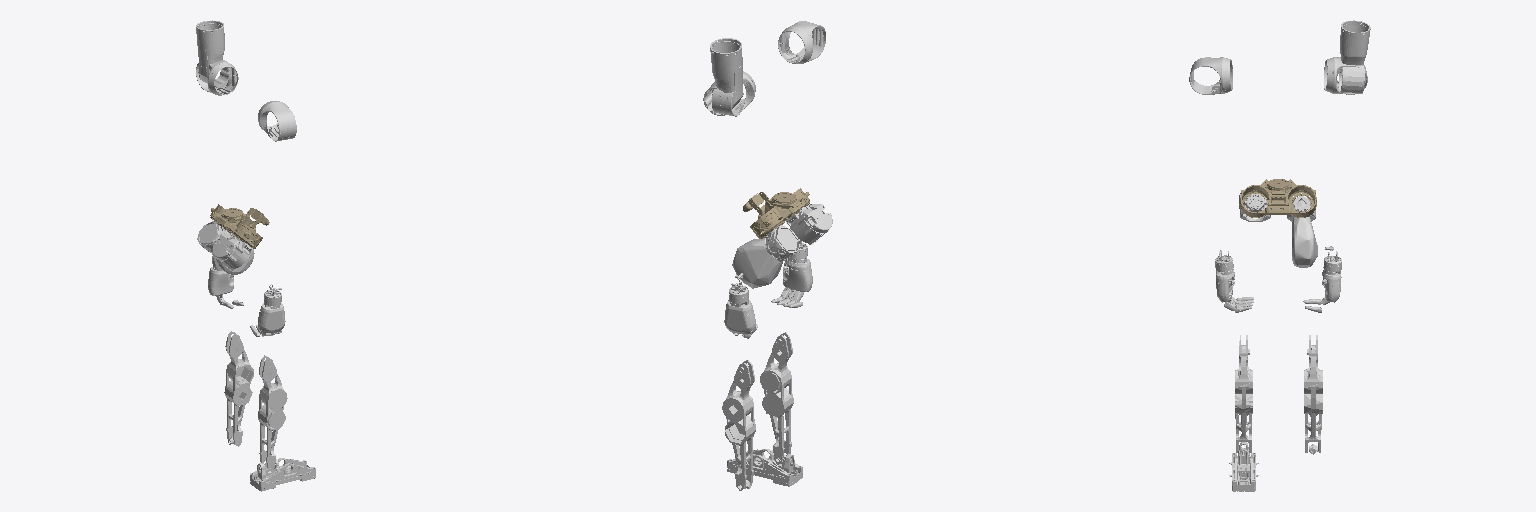
--- What the picture shows (computed from the rendered views, not written in the file) ---
Views: 3 orthographic renders of the robot side by side, from view 1: azimuth 30°, elevation 25°; view 2: azimuth 150°, elevation 25°; view 3: azimuth 270°, elevation 25°.
Robot: M92C — 60 links, 59 joints (52 revolute, 7 fixed); root link base_footprint; default pose: all joints at 0 but 20 set to mid-range because 0 is outside their limits (l_thumb_cmc_y_joint = 2.43, l_thumb_cmc_p_joint = 0.637, l_thumb_mcp_joint = -0.3912, l_thumb_ip_joint = -0.2072, l_index_mcp_joint = -0.9652, l_index_pip_joint = -0.6485, +14 more).
Links seen in each view (by area): view 1: r_leg4_knee_p_link, l_leg4_knee_p_link, l_arm3_shoulder_y_link, r_leg6_ankle_r_link, base_link, r_arm1_shoulder_p_link, r_arm7_wrist_p_link, r_leg1_hip_y_link, l_arm1_shoulder_p_link, l_arm7_wrist_p_link, l_leg1_hip_y_link; view 2: r_leg4_knee_p_link, l_leg4_knee_p_link, l_arm3_shoulder_y_link, base_link, l_leg2_hip_r_link, r_leg6_ankle_r_link, r_arm1_shoulder_p_link, l_arm7_wrist_p_link, r_leg1_hip_y_link, r_arm7_wrist_p_link, l_arm1_shoulder_p_link, l_leg1_hip_y_link; view 3: base_link, l_arm3_shoulder_y_link, l_leg4_knee_p_link, r_leg4_knee_p_link, l_leg2_hip_r_link, r_arm1_shoulder_p_link, r_leg6_ankle_r_link, r_arm7_wrist_p_link, l_arm7_wrist_p_link, l_arm1_shoulder_p_link.
Link boxes in pixels (left/top/right/bottom): r_leg4_knee_p_link: left=258, top=355, right=287, bottom=470; l_leg4_knee_p_link: left=224, top=331, right=253, bottom=446; l_arm3_shoulder_y_link: left=196, top=20, right=228, bottom=88; r_leg6_ankle_r_link: left=250, top=458, right=315, bottom=491; base_link: left=210, top=204, right=269, bottom=248; r_arm1_shoulder_p_link: left=258, top=101, right=296, bottom=141; r_arm7_wrist_p_link: left=258, top=284, right=285, bottom=332; r_leg1_hip_y_link: left=212, top=234, right=252, bottom=270; l_arm1_shoulder_p_link: left=196, top=60, right=238, bottom=95; l_arm7_wrist_p_link: left=208, top=256, right=233, bottom=295; l_leg1_hip_y_link: left=197, top=221, right=227, bottom=252; r_leg4_knee_p_link: left=760, top=332, right=793, bottom=463; l_leg4_knee_p_link: left=722, top=360, right=755, bottom=490; l_arm3_shoulder_y_link: left=703, top=38, right=743, bottom=115; base_link: left=743, top=188, right=809, bottom=238; l_leg2_hip_r_link: left=732, top=238, right=782, bottom=288; r_leg6_ankle_r_link: left=727, top=449, right=802, bottom=486; r_arm1_shoulder_p_link: left=778, top=21, right=825, bottom=63; l_arm7_wrist_p_link: left=724, top=279, right=755, bottom=334; r_leg1_hip_y_link: left=786, top=204, right=832, bottom=244; r_arm7_wrist_p_link: left=783, top=239, right=812, bottom=291; l_arm1_shoulder_p_link: left=712, top=71, right=755, bottom=116; l_leg1_hip_y_link: left=765, top=225, right=799, bottom=261; base_link: left=1240, top=179, right=1316, bottom=217; l_arm3_shoulder_y_link: left=1339, top=20, right=1370, bottom=93; l_leg4_knee_p_link: left=1304, top=335, right=1322, bottom=452; r_leg4_knee_p_link: left=1235, top=335, right=1252, bottom=452; l_leg2_hip_r_link: left=1292, top=217, right=1317, bottom=267; r_arm1_shoulder_p_link: left=1189, top=57, right=1232, bottom=94; r_leg6_ankle_r_link: left=1229, top=442, right=1258, bottom=491; r_arm7_wrist_p_link: left=1215, top=250, right=1234, bottom=302; l_arm7_wrist_p_link: left=1322, top=251, right=1341, bottom=302; l_arm1_shoulder_p_link: left=1324, top=57, right=1367, bottom=94.
Bounding box of the posed robot: 0.3569 × 0.5926 × 1.59 m (x, y, z).
Meshes: 53 distinct files referenced, 26 mesh visuals loaded (26 binary STL); not drawn: 27 (reference not matched to a file when rendering).

The robot description file, URDF, robot "M92C":
<?xml version="1.0" ?>
<!-- =================================================================================== -->
<!-- |    This document was autogenerated by xacro from [local-path]/ws_humble/src/human_description/robots/M92C/M92C.urdf.xacro | -->
<!-- |    EDITING THIS FILE BY HAND IS NOT RECOMMENDED                                 | -->
<!-- =================================================================================== -->
<robot name="M92C">
  <link name="base_footprint">
            </link>
  <joint name="base_footprint_fixed_joint" type="fixed">
    <parent link="base_footprint"/>
    <child link="base_link"/>
    <origin rpy="0 0 0" xyz="0 0 0.95"/>
  </joint>
  <link name="base_link">
    <visual name="base_link_vis">
      <geometry>
        <mesh filename="package://human_description/meshes/M92C/visual/base_link.stl" scale="1e-3 1e-3 1e-3"/>
      </geometry>
      <material name="steel">
        <color rgba="0.7 0.65 0.55 1"/>
      </material>
    </visual>
    <collision name="base_link_col">
      <geometry>
        <mesh filename="package://human_description/meshes/M92C/collision/base_link.stl" scale="1e-3 1e-3 1e-3"/>
      </geometry>
    </collision>
    <inertial>
      <origin rpy="0.0 0.0 0.0" xyz="-0.04674316973808486 4.243775826414283e-05 -0.04593932252884735"/>
      <mass value="4.582832371613902"/>
      <inertia ixx="0.026938242317904135" ixy="0.00016805004318506462" ixz="0.00031440502263900636" iyy="0.0069147873987483125" iyz="-0.00017810480444606385" izz="0.029031175439499908"/>
    </inertial>
  </link>
  <gazebo reference="base_link">
    <mu1 value="0.85"/>
    <mu2 value="0.85"/>
    <maxContacts>10</maxContacts>
    <minDepth>0.0001</minDepth>
    <maxVel>0.01</maxVel>
    <selfCollide value="True"/>
  </gazebo>
  <link name="l_leg1_hip_y_link">
    <visual name="l_leg1_hip_y_link_vis">
      <geometry>
        <mesh filename="package://human_description/meshes/M92C/visual/l_leg1_hip_y_link.stl" scale="1e-3 1e-3 1e-3"/>
      </geometry>
      <material name="metal">
        <color rgba="0.85 0.85 0.85 1"/>
      </material>
    </visual>
    <collision name="l_leg1_hip_y_link_col">
      <geometry>
        <mesh filename="package://human_description/meshes/M92C/collision/l_leg1_hip_y_link.stl" scale="1e-3 1e-3 1e-3"/>
      </geometry>
    </collision>
    <inertial>
      <origin rpy="0.0 0.0 0.0" xyz="0.0008850229572728041 5.843723944565227e-06 0.002410102237999933"/>
      <mass value="1.6682261293788896"/>
      <inertia ixx="0.0016489016346544062" ixy="1.1338909680756251e-06" ixz="-4.594603902098548e-05" iyy="0.0015528054330462516" iyz="2.3316569553201646e-07" izz="0.0013879925130855925"/>
    </inertial>
  </link>
  <gazebo reference="l_leg1_hip_y_link">
    <mu1 value="0.85"/>
    <mu2 value="0.85"/>
    <maxContacts>10</maxContacts>
    <minDepth>0.0001</minDepth>
    <maxVel>0.01</maxVel>
    <selfCollide value="True"/>
  </gazebo>
  <joint name="l_leg1_hip_y_joint" type="revolute">
    <parent link="base_link"/>
    <child link="l_leg1_hip_y_link"/>
    <origin rpy="0.0 0.7854 0.0" xyz="-0.108293 0.075 -0.108293"/>
    <axis xyz="0 0 1"/>
    <limit effort="200.0" lower="-0.7853981633974483" upper="1.5707963267948966" velocity="22.19"/>
    <safety_controller k_position="121.0" k_velocity="540.0" soft_lower_limit="-0.7330382858376184" soft_upper_limit="1.5184364492350666"/>
    <dynamics damping="0.0" friction="0.0"/>
  </joint>
  <gazebo reference="l_leg1_hip_y_joint">
    <!-- Needed for ODE to output external wrenches on joints -->
    <provideFeedback>true</provideFeedback>
    <preserveFixedJoint>true</preserveFixedJoint>
    <disableFixedJointLumping>true</disableFixedJointLumping>
  </gazebo>
  <link name="l_leg2_hip_r_link">
    <visual name="l_leg2_hip_r_link_vis">
      <geometry>
        <mesh filename="package://human_description/meshes/M92C/visual/l_leg2_hip_r_link.stl" scale="1e-3 1e-3 1e-3"/>
      </geometry>
      <material name="metal">
        <color rgba="0.85 0.85 0.85 1"/>
      </material>
    </visual>
    <collision name="l_leg2_hip_r_link_col">
      <geometry>
        <mesh filename="package://human_description/meshes/M92C/collision/l_leg2_hip_r_link.stl" scale="1e-3 1e-3 1e-3"/>
      </geometry>
    </collision>
    <inertial>
      <origin rpy="0.0 0.0 0.0" xyz="0.14900213418763666 0.0021476222290698816 8.845763064364575e-05"/>
      <mass value="4.007992430034036"/>
      <inertia ixx="0.011693994358873725" ixy="-9.274739833332958e-06" ixz="-8.624794970012456e-05" iyy="0.02343703854529649" iyz="1.1322262112806104e-05" izz="0.013482601595282608"/>
    </inertial>
  </link>
  <gazebo reference="l_leg2_hip_r_link">
    <mu1 value="0.85"/>
    <mu2 value="0.85"/>
    <maxContacts>10</maxContacts>
    <minDepth>0.0001</minDepth>
    <maxVel>0.01</maxVel>
    <selfCollide value="True"/>
  </gazebo>
  <joint name="l_leg2_hip_r_joint" type="revolute">
    <parent link="l_leg1_hip_y_link"/>
    <child link="l_leg2_hip_r_link"/>
    <origin rpy="0.0 0.0 0.0" xyz="0.0 0.0 0.0"/>
    <axis xyz="1 0 0"/>
    <limit effort="100.0" lower="-0.7853981633974483" upper="0.7853981633974483" velocity="20.22"/>
    <safety_controller k_position="121.0" k_velocity="540.0" soft_lower_limit="-0.7330382858376184" soft_upper_limit="0.7330382858376184"/>
    <dynamics damping="0.0" friction="0.0"/>
  </joint>
  <gazebo reference="l_leg2_hip_r_joint">
    <!-- Needed for ODE to output external wrenches on joints -->
    <provideFeedback>true</provideFeedback>
    <preserveFixedJoint>true</preserveFixedJoint>
    <disableFixedJointLumping>true</disableFixedJointLumping>
  </gazebo>
  <link name="l_leg3_hip_p_link">
    <visual name="l_leg3_hip_p_link_vis">
      <geometry>
        <mesh filename="package://human_description/meshes/M92C/visual/l_leg3_hip_p_link.stl" scale="1e-3 1e-3 1e-3"/>
      </geometry>
      <material name="metal">
        <color rgba="0.85 0.85 0.85 1"/>
      </material>
    </visual>
    <collision name="l_leg3_hip_p_link_col">
      <geometry>
        <mesh filename="package://human_description/meshes/M92C/collision/l_leg3_hip_p_link.stl" scale="1e-3 1e-3 1e-3"/>
      </geometry>
    </collision>
    <inertial>
      <origin rpy="0.0 0.0 0.0" xyz="0.001777498283024403 0.06609405204667318 -0.06548805431118004"/>
      <mass value="6.861170839249381"/>
      <inertia ixx="0.08209203289624244" ixy="4.8951279013623674e-05" ixz="0.003804575952713313" iyy="0.09174731120828715" iyz="-0.005732136409648308" izz="0.0210784970572199"/>
    </inertial>
  </link>
  <gazebo reference="l_leg3_hip_p_link">
    <mu1 value="0.85"/>
    <mu2 value="0.85"/>
    <maxContacts>10</maxContacts>
    <minDepth>0.0001</minDepth>
    <maxVel>0.01</maxVel>
    <selfCollide value="True"/>
  </gazebo>
  <joint name="l_leg3_hip_p_joint" type="revolute">
    <parent link="l_leg2_hip_r_link"/>
    <child link="l_leg3_hip_p_link"/>
    <origin rpy="0.0 -0.7854 0.0" xyz="0.1575 0.0 0.0"/>
    <axis xyz="0 1 0"/>
    <limit effort="350.0" lower="-2.321287905152458" upper="1.361356816555577" velocity="27.27"/>
    <safety_controller k_position="121.0" k_velocity="540.0" soft_lower_limit="-2.2689280275926285" soft_upper_limit="1.3089969389957472"/>
    <dynamics damping="0.0" friction="0.0"/>
  </joint>
  <gazebo reference="l_leg3_hip_p_joint">
    <!-- Needed for ODE to output external wrenches on joints -->
    <provideFeedback>true</provideFeedback>
    <preserveFixedJoint>true</preserveFixedJoint>
    <disableFixedJointLumping>true</disableFixedJointLumping>
  </gazebo>
  <link name="l_leg4_knee_p_link">
    <visual name="l_leg4_knee_p_link_vis">
      <geometry>
        <mesh filename="package://human_description/meshes/M92C/visual/l_leg4_knee_p_link.stl" scale="1e-3 1e-3 1e-3"/>
      </geometry>
      <material name="metal">
        <color rgba="0.85 0.85 0.85 1"/>
      </material>
    </visual>
    <collision name="l_leg4_knee_p_link_col">
      <geometry>
        <mesh filename="package://human_description/meshes/M92C/collision/l_leg4_knee_p_link.stl" scale="1e-3 1e-3 1e-3"/>
      </geometry>
    </collision>
    <inertial>
      <origin rpy="0.0 0.0 0.0" xyz="0.026276416699445766 0.0006239679967631234 -0.1669593832478771"/>
      <mass value="3.251382635339728"/>
      <inertia ixx="0.03882460227929094" ixy="-0.0001626615225407489" ixz="0.003120886772307399" iyy="0.03943104044910984" iyz="-0.0003856289904792427" izz="0.004759512026890702"/>
    </inertial>
  </link>
  <gazebo reference="l_leg4_knee_p_link">
    <mu1 value="0.85"/>
    <mu2 value="0.85"/>
    <maxContacts>10</maxContacts>
    <minDepth>0.0001</minDepth>
    <maxVel>0.01</maxVel>
    <selfCollide value="True"/>
  </gazebo>
  <joint name="l_leg4_knee_p_joint" type="revolute">
    <parent link="l_leg3_hip_p_link"/>
    <child link="l_leg4_knee_p_link"/>
    <origin rpy="0.0 0.0 0.0" xyz="0.0 0.0435 -0.35"/>
    <axis xyz="0 1 0"/>
    <limit effort="350.0" lower="-0.17453292519943295" upper="2.651155133779387" velocity="27.27"/>
    <safety_controller k_position="121.0" k_velocity="540.0" soft_lower_limit="-0.12217304763960307" soft_upper_limit="2.5987952562195566"/>
    <dynamics damping="0.0" friction="0.0"/>
  </joint>
  <gazebo reference="l_leg4_knee_p_joint">
    <!-- Needed for ODE to output external wrenches on joints -->
    <provideFeedback>true</provideFeedback>
    <preserveFixedJoint>true</preserveFixedJoint>
    <disableFixedJointLumping>true</disableFixedJointLumping>
  </gazebo>
  <link name="l_leg5_ankle_p_link">
    <visual name="l_leg5_ankle_p_link_vis">
      <geometry>
        <mesh filename="package://human_description/meshes/M92C/visual/l_leg5_ankle_p_link.stl" scale="1e-3 1e-3 1e-3"/>
      </geometry>
      <material name="metal">
        <color rgba="0.85 0.85 0.85 1"/>
      </material>
    </visual>
    <collision name="l_leg5_ankle_p_link_col">
      <geometry>
        <mesh filename="package://human_description/meshes/M92C/collision/l_leg5_ankle_p_link.stl" scale="1e-3 1e-3 1e-3"/>
      </geometry>
    </collision>
    <inertial>
      <origin rpy="0.0 0.0 0.0" xyz="0.0028303307 0.0 0.0"/>
      <mass value="0.11492616"/>
      <inertia ixx="1.4387333e-05" ixy="0.0" ixz="0.0" iyy="2.2649914e-05" iyz="0.0" izz="3.0265224e-05"/>
    </inertial>
  </link>
  <gazebo reference="l_leg5_ankle_p_link">
    <mu1 value="0.85"/>
    <mu2 value="0.85"/>
    <maxContacts>10</maxContacts>
    <minDepth>0.0001</minDepth>
    <maxVel>0.01</maxVel>
    <selfCollide value="True"/>
  </gazebo>
  <joint name="l_leg5_ankle_p_joint" type="revolute">
    <parent link="l_leg4_knee_p_link"/>
    <child link="l_leg5_ankle_p_link"/>
    <origin rpy="0.0 0.0 0.0" xyz="0.0 -0.005 -0.35"/>
    <axis xyz="0 1 0"/>
    <limit effort="150.0" lower="-1.2217304763960306" upper="0.6457718232379019" velocity="33.0"/>
    <safety_controller k_position="121.0" k_velocity="540.0" soft_lower_limit="-1.1693705988362006" soft_upper_limit="0.5934119456780721"/>
    <dynamics damping="0.0" friction="0.0"/>
  </joint>
  <gazebo reference="l_leg5_ankle_p_joint">
    <!-- Needed for ODE to output external wrenches on joints -->
    <provideFeedback>true</provideFeedback>
    <preserveFixedJoint>true</preserveFixedJoint>
    <disableFixedJointLumping>true</disableFixedJointLumping>
  </gazebo>
  <link name="l_leg6_ankle_r_link">
    <visual name="l_leg6_ankle_r_link_vis">
      <geometry>
        <mesh filename="package://human_description/meshes/M92C/visual/l_leg6_ankle_r_link.stl" scale="1e-3 1e-3 1e-3"/>
      </geometry>
      <material name="metal">
        <color rgba="0.85 0.85 0.85 1"/>
      </material>
    </visual>
    <collision name="l_leg6_ankle_r_link_col">
      <geometry>
        <mesh filename="package://human_description/meshes/M92C/collision/l_leg6_ankle_r_link.stl" scale="1e-3 1e-3 1e-3"/>
      </geometry>
    </collision>
    <inertial>
      <origin rpy="0.0 0.0 0.0" xyz="0.05231358618601275 2.8064972453501938e-05 -0.0379930283494815"/>
      <mass value="1.1273201594692528"/>
      <inertia ixx="0.001132228521183826" ixy="-4.766733513667394e-07" ixz="0.00011099562072101504" iyy="0.004074718655562373" iyz="2.367253415282658e-07" izz="0.004449576486150568"/>
    </inertial>
  </link>
  <gazebo reference="l_leg6_ankle_r_link">
    <mu1 value="0.85"/>
    <mu2 value="0.85"/>
    <maxContacts>10</maxContacts>
    <minDepth>0.0001</minDepth>
    <maxVel>0.01</maxVel>
    <selfCollide value="True"/>
  </gazebo>
  <joint name="l_leg6_ankle_r_joint" type="revolute">
    <parent link="l_leg5_ankle_p_link"/>
    <child link="l_leg6_ankle_r_link"/>
    <origin rpy="0.0 0.0 0.0" xyz="0.0 0.0 0.0"/>
    <axis xyz="1 0 0"/>
    <limit effort="150.0" lower="-0.5235987755982988" upper="0.5235987755982988" velocity="33.0"/>
    <safety_controller k_position="121.0" k_velocity="540.0" soft_lower_limit="-0.47123889803846897" soft_upper_limit="0.47123889803846897"/>
    <dynamics damping="0.0" friction="0.0"/>
  </joint>
  <gazebo reference="l_leg6_ankle_r_joint">
    <!-- Needed for ODE to output external wrenches on joints -->
    <provideFeedback>true</provideFeedback>
    <preserveFixedJoint>true</preserveFixedJoint>
    <disableFixedJointLumping>true</disableFixedJointLumping>
  </gazebo>
  <ros2_control name="l_leg_system" type="system">
    <hardware>
      <plugin>ign_ros2_control/IgnitionSystem</plugin>
    </hardware>
    <joint name="l_leg1_hip_y_joint">
      <param name="initial_position">0.0</param>
      <command_interface name="position"/>
      <state_interface name="position">
        <param name="initial_value">0.0</param>
      </state_interface>
      <state_interface name="velocity"/>
      <state_interface name="effort"/>
    </joint>
    <transmission name="l_leg1_hip_y_transmission">
      <plugin>transmission_interface/SimpleTransmission</plugin>
      <joint name="l_leg1_hip_y_joint" role="joint1">
        <mechanical_reduction>1.0</mechanical_reduction>
        <offset>0</offset>
      </joint>
      <actuator name="l_leg1_hip_y_actuator" role="actuator1">
        <mechanical_reduction>1.0</mechanical_reduction>
        <offset>0</offset>
      </actuator>
    </transmission>
    <joint name="l_leg2_hip_r_joint">
      <param name="initial_position">0.0</param>
      <command_interface name="position"/>
      <state_interface name="position">
        <param name="initial_value">0.0</param>
      </state_interface>
      <state_interface name="velocity"/>
      <state_interface name="effort"/>
    </joint>
    <transmission name="l_leg2_hip_r_transmission">
      <plugin>transmission_interface/SimpleTransmission</plugin>
      <joint name="l_leg2_hip_r_joint" role="joint1">
        <mechanical_reduction>1.0</mechanical_reduction>
        <offset>0</offset>
      </joint>
      <actuator name="l_leg2_hip_r_actuator" role="actuator1">
        <mechanical_reduction>1.0</mechanical_reduction>
        <offset>0</offset>
      </actuator>
    </transmission>
    <joint name="l_leg3_hip_p_joint">
      <param name="initial_position">0.0</param>
      <command_interface name="position"/>
      <state_interface name="position">
        <param name="initial_value">0.0</param>
      </state_interface>
      <state_interface name="velocity"/>
      <state_interface name="effort"/>
    </joint>
    <transmission name="l_leg3_hip_p_transmission">
      <plugin>transmission_interface/SimpleTransmission</plugin>
      <joint name="l_leg3_hip_p_joint" role="joint1">
        <mechanical_reduction>1.0</mechanical_reduction>
        <offset>0</offset>
      </joint>
      <actuator name="l_leg3_hip_p_actuator" role="actuator1">
        <mechanical_reduction>1.0</mechanical_reduction>
        <offset>0</offset>
      </actuator>
    </transmission>
    <joint name="l_leg4_knee_p_joint">
      <param name="initial_position">0.0</param>
      <command_interface name="position"/>
      <state_interface name="position">
        <param name="initial_value">0.0</param>
      </state_interface>
      <state_interface name="velocity"/>
      <state_interface name="effort"/>
    </joint>
    <transmission name="l_leg4_knee_p_transmission">
      <plugin>transmission_interface/SimpleTransmission</plugin>
      <joint name="l_leg4_knee_p_joint" role="joint1">
        <mechanical_reduction>1.0</mechanical_reduction>
        <offset>0</offset>
      </joint>
      <actuator name="l_leg4_knee_p_actuator" role="actuator1">
        <mechanical_reduction>1.0</mechanical_reduction>
        <offset>0</offset>
      </actuator>
    </transmission>
    <joint name="l_leg5_ankle_p_joint">
      <param name="initial_position">0.0</param>
      <command_interface name="position"/>
      <state_interface name="position">
        <param name="initial_value">0.0</param>
      </state_interface>
      <state_interface name="velocity"/>
      <state_interface name="effort"/>
    </joint>
    <transmission name="l_leg5_ankle_p_transmission">
      <plugin>transmission_interface/SimpleTransmission</plugin>
      <joint name="l_leg5_ankle_p_joint" role="joint1">
        <mechanical_reduction>1.0</mechanical_reduction>
        <offset>0</offset>
      </joint>
      <actuator name="l_leg5_ankle_p_actuator" role="actuator1">
        <mechanical_reduction>1.0</mechanical_reduction>
        <offset>0</offset>
      </actuator>
    </transmission>
    <joint name="l_leg6_ankle_r_joint">
      <param name="initial_position">0.0</param>
      <command_interface name="position"/>
      <state_interface name="position">
        <param name="initial_value">0.0</param>
      </state_interface>
      <state_interface name="velocity"/>
      <state_interface name="effort"/>
    </joint>
    <transmission name="l_leg6_ankle_r_transmission">
      <plugin>transmission_interface/SimpleTransmission</plugin>
      <joint name="l_leg6_ankle_r_joint" role="joint1">
        <mechanical_reduction>1.0</mechanical_reduction>
        <offset>0</offset>
      </joint>
      <actuator name="l_leg6_ankle_r_actuator" role="actuator1">
        <mechanical_reduction>1.0</mechanical_reduction>
        <offset>0</offset>
      </actuator>
    </transmission>
  </ros2_control>
  <link name="r_leg1_hip_y_link">
    <visual name="r_leg1_hip_y_link_vis">
      <geometry>
        <mesh filename="package://human_description/meshes/M92C/visual/r_leg1_hip_y_link.stl" scale="1e-3 1e-3 1e-3"/>
      </geometry>
      <material name="metal">
        <color rgba="0.85 0.85 0.85 1"/>
      </material>
    </visual>
    <collision name="r_leg1_hip_y_link_col">
      <geometry>
        <mesh filename="package://human_description/meshes/M92C/collision/r_leg1_hip_y_link.stl" scale="1e-3 1e-3 1e-3"/>
      </geometry>
    </collision>
    <inertial>
      <origin rpy="0.0 0.0 0.0" xyz="0.0008850229572728041 5.843723944565227e-06 0.002410102237999933"/>
      <mass value="1.6682261293788896"/>
      <inertia ixx="0.0016489016346544062" ixy="1.1338909680756251e-06" ixz="-4.594603902098548e-05" iyy="0.0015528054330462516" iyz="2.3316569553201646e-07" izz="0.0013879925130855925"/>
    </inertial>
  </link>
  <gazebo reference="r_leg1_hip_y_link">
    <mu1 value="0.85"/>
    <mu2 value="0.85"/>
    <maxContacts>10</maxContacts>
    <minDepth>0.0001</minDepth>
    <maxVel>0.01</maxVel>
    <selfCollide value="True"/>
  </gazebo>
  <joint name="r_leg1_hip_y_joint" type="revolute">
    <parent link="base_link"/>
    <child link="r_leg1_hip_y_link"/>
    <origin rpy="0.0 0.7854 0.0" xyz="-0.108293 -0.075 -0.108293"/>
    <axis xyz="0 0 1"/>
    <limit effort="200.0" lower="-1.5707963267948966" upper="0.7853981633974483" velocity="22.19"/>
    <safety_controller k_position="121.0" k_velocity="540.0" soft_lower_limit="-1.5184364492350666" soft_upper_limit="0.7330382858376184"/>
    <dynamics damping="0.0" friction="0.0"/>
  </joint>
  <gazebo reference="r_leg1_hip_y_joint">
    <!-- Needed for ODE to output external wrenches on joints -->
    <provideFeedback>true</provideFeedback>
    <preserveFixedJoint>true</preserveFixedJoint>
    <disableFixedJointLumping>true</disableFixedJointLumping>
  </gazebo>
  <link name="r_leg2_hip_r_link">
    <visual name="r_leg2_hip_r_link_vis">
      <geometry>
        <mesh filename="package://human_description/meshes/M92C/visual/r_leg2_hip_r_link.stl" scale="1e-3 1e-3 1e-3"/>
      </geometry>
      <material name="metal">
        <color rgba="0.85 0.85 0.85 1"/>
      </material>
    </visual>
    <collision name="r_leg2_hip_r_link_col">
      <geometry>
        <mesh filename="package://human_description/meshes/M92C/collision/r_leg2_hip_r_link.stl" scale="1e-3 1e-3 1e-3"/>
      </geometry>
    </collision>
    <inertial>
      <origin rpy="0.0 0.0 0.0" xyz="0.14900213418763666 -0.0021476222290698816 8.845763064364575e-05"/>
      <mass value="4.007992430034036"/>
      <inertia ixx="0.011693994358873725" ixy="9.274739833332958e-06" ixz="-8.624794970012456e-05" iyy="0.02343703854529649" iyz="-1.1322262112806104e-05" izz="0.013482601595282608"/>
    </inertial>
  </link>
  <gazebo reference="r_leg2_hip_r_link">
    <mu1 value="0.85"/>
    <mu2 value="0.85"/>
    <maxContacts>10</maxContacts>
    <minDepth>0.0001</minDepth>
    <maxVel>0.01</maxVel>
    <selfCollide value="True"/>
  </gazebo>
  <joint name="r_leg2_hip_r_joint" type="revolute">
    <parent link="r_leg1_hip_y_link"/>
    <child link="r_leg2_hip_r_link"/>
    <origin rpy="0.0 0.0 0.0" xyz="0.0 0.0 0.0"/>
    <axis xyz="1 0 0"/>
    <limit effort="100.0" lower="-0.7853981633974483" upper="0.7853981633974483" velocity="20.22"/>
    <safety_controller k_position="121.0" k_velocity="540.0" soft_lower_limit="-0.7330382858376184" soft_upper_limit="0.7330382858376184"/>
    <dynamics damping="0.0" friction="0.0"/>
  </joint>
  <gazebo reference="r_leg2_hip_r_joint">
    <!-- Needed for ODE to output external wrenches on joints -->
    <provideFeedback>true</provideFeedback>
    <preserveFixedJoint>true</preserveFixedJoint>
    <disableFixedJointLumping>true</disableFixedJointLumping>
  </gazebo>
  <link name="r_leg3_hip_p_link">
    <visual name="r_leg3_hip_p_link_vis">
      <geometry>
        <mesh filename="package://human_description/meshes/M92C/visual/r_leg3_hip_p_link.stl" scale="1e-3 1e-3 1e-3"/>
      </geometry>
      <material name="metal">
        <color rgba="0.85 0.85 0.85 1"/>
      </material>
    </visual>
    <collision name="r_leg3_hip_p_link_col">
      <geometry>
        <mesh filename="package://human_description/meshes/M92C/collision/r_leg3_hip_p_link.stl" scale="1e-3 1e-3 1e-3"/>
      </geometry>
    </collision>
    <inertial>
      <origin rpy="0.0 0.0 0.0" xyz="0.001777498283024403 -0.06609405204667318 -0.06548805431118004"/>
      <mass value="6.861170839249381"/>
      <inertia ixx="0.08209203289624244" ixy="-4.8951279013623674e-05" ixz="0.003804575952713313" iyy="0.09174731120828715" iyz="0.005732136409648308" izz="0.0210784970572199"/>
    </inertial>
  </link>
  <gazebo reference="r_leg3_hip_p_link">
    <mu1 value="0.85"/>
    <mu2 value="0.85"/>
    <maxContacts>10</maxContacts>
    <minDepth>0.0001</minDepth>
    <maxVel>0.01</maxVel>
    <selfCollide value="True"/>
  </gazebo>
  <joint name="r_leg3_hip_p_joint" type="revolute">
    <parent link="r_leg2_hip_r_link"/>
    <child link="r_leg3_hip_p_link"/>
    <origin rpy="0.0 -0.7854 0.0" xyz="0.1575 0.0 0.0"/>
    <axis xyz="0 1 0"/>
    <limit effort="350.0" lower="-2.321287905152458" upper="1.361356816555577" velocity="27.27"/>
    <safety_controller k_position="121.0" k_velocity="540.0" soft_lower_limit="-2.2689280275926285" soft_upper_limit="1.3089969389957472"/>
    <dynamics damping="0.0" friction="0.0"/>
  </joint>
  <gazebo reference="r_leg3_hip_p_joint">
    <!-- Needed for ODE to output external wrenches on joints -->
    <provideFeedback>true</provideFeedback>
    <preserveFixedJoint>true</preserveFixedJoint>
    <disableFixedJointLumping>true</disableFixedJointLumping>
  </gazebo>
  <link name="r_leg4_knee_p_link">
    <visual name="r_leg4_knee_p_link_vis">
      <geometry>
        <mesh filename="package://human_description/meshes/M92C/visual/r_leg4_knee_p_link.stl" scale="1e-3 1e-3 1e-3"/>
      </geometry>
      <material name="metal">
        <color rgba="0.85 0.85 0.85 1"/>
      </material>
    </visual>
    <collision name="r_leg4_knee_p_link_col">
      <geometry>
        <mesh filename="package://human_description/meshes/M92C/collision/r_leg4_knee_p_link.stl" scale="1e-3 1e-3 1e-3"/>
      </geometry>
    </collision>
    <inertial>
      <origin rpy="0.0 0.0 0.0" xyz="0.026276416699445766 -0.0006239679967631234 -0.1669593832478771"/>
      <mass value="3.251382635339728"/>
      <inertia ixx="0.03882460227929094" ixy="0.0001626615225407489" ixz="0.003120886772307399" iyy="0.03943104044910984" iyz="0.0003856289904792427" izz="0.004759512026890702"/>
    </inertial>
  </link>
  <gazebo reference="r_leg4_knee_p_link">
    <mu1 value="0.85"/>
    <mu2 value="0.85"/>
    <maxContacts>10</maxContacts>
    <minDepth>0.0001</minDepth>
    <maxVel>0.01</maxVel>
    <selfCollide value="True"/>
  </gazebo>
  <joint name="r_leg4_knee_p_joint" type="revolute">
    <parent link="r_leg3_hip_p_link"/>
    <child link="r_leg4_knee_p_link"/>
    <origin rpy="0.0 0.0 0.0" xyz="0.0 -0.0435 -0.35"/>
    <axis xyz="0 1 0"/>
    <limit effort="350.0" lower="-0.17453292519943295" upper="2.651155133779387" velocity="27.27"/>
    <safety_controller k_position="121.0" k_velocity="540.0" soft_lower_limit="-0.12217304763960307" soft_upper_limit="2.5987952562195566"/>
    <dynamics damping="0.0" friction="0.0"/>
  </joint>
  <gazebo reference="r_leg4_knee_p_joint">
    <!-- Needed for ODE to output external wrenches on joints -->
    <provideFeedback>true</provideFeedback>
    <preserveFixedJoint>true</preserveFixedJoint>
    <disableFixedJointLumping>true</disableFixedJointLumping>
  </gazebo>
  <link name="r_leg5_ankle_p_link">
    <visual name="r_leg5_ankle_p_link_vis">
      <geometry>
        <mesh filename="package://human_description/meshes/M92C/visual/r_leg5_ankle_p_link.stl" scale="1e-3 1e-3 1e-3"/>
      </geometry>
      <material name="metal">
        <color rgba="0.85 0.85 0.85 1"/>
      </material>
    </visual>
    <collision name="r_leg5_ankle_p_link_col">
      <geometry>
        <mesh filename="package://human_description/meshes/M92C/collision/r_leg5_ankle_p_link.stl" scale="1e-3 1e-3 1e-3"/>
      </geometry>
    </collision>
    <inertial>
      <origin rpy="0.0 0.0 0.0" xyz="0.0028303307 0.0 0.0"/>
      <mass value="0.11492616"/>
      <inertia ixx="1.4387333e-05" ixy="0.0" ixz="0.0" iyy="2.2649914e-05" iyz="0.0" izz="3.0265224e-05"/>
    </inertial>
  </link>
  <gazebo reference="r_leg5_ankle_p_link">
    <mu1 value="0.85"/>
    <mu2 value="0.85"/>
    <maxContacts>10</maxContacts>
    <minDepth>0.0001</minDepth>
    <maxVel>0.01</maxVel>
    <selfCollide value="True"/>
  </gazebo>
  <joint name="r_leg5_ankle_p_joint" type="revolute">
    <parent link="r_leg4_knee_p_link"/>
    <child link="r_leg5_ankle_p_link"/>
    <origin rpy="0.0 0.0 0.0" xyz="0.0 0.005 -0.35"/>
    <axis xyz="0 1 0"/>
    <limit effort="150.0" lower="-1.2217304763960306" upper="0.6457718232379019" velocity="33.0"/>
    <safety_controller k_position="121.0" k_velocity="540.0" soft_lower_limit="-1.1693705988362006" soft_upper_limit="0.5934119456780721"/>
    <dynamics damping="0.0" friction="0.0"/>
  </joint>
  <gazebo reference="r_leg5_ankle_p_joint">
    <!-- Needed for ODE to output external wrenches on joints -->
    <provideFeedback>true</provideFeedback>
    <preserveFixedJoint>true</preserveFixedJoint>
    <disableFixedJointLumping>true</disableFixedJointLumping>
  </gazebo>
  <link name="r_leg6_ankle_r_link">
    <visual name="r_leg6_ankle_r_link_vis">
      <geometry>
        <mesh filename="package://human_description/meshes/M92C/visual/r_leg6_ankle_r_link.stl" scale="1e-3 1e-3 1e-3"/>
      </geometry>
      <material name="metal">
        <color rgba="0.85 0.85 0.85 1"/>
      </material>
    </visual>
    <collision name="r_leg6_ankle_r_link_col">
      <geometry>
        <mesh filename="package://human_description/meshes/M92C/collision/r_leg6_ankle_r_link.stl" scale="1e-3 1e-3 1e-3"/>
      </geometry>
    </collision>
    <inertial>
      <origin rpy="0.0 0.0 0.0" xyz="0.05231358618601275 2.8064972453501938e-05 -0.0379930283494815"/>
      <mass value="1.1273201594692528"/>
      <inertia ixx="0.001132228521183826" ixy="-4.766733513667394e-07" ixz="0.00011099562072101504" iyy="0.004074718655562373" iyz="2.367253415282658e-07" izz="0.004449576486150568"/>
    </inertial>
  </link>
  <gazebo reference="r_leg6_ankle_r_link">
    <mu1 value="0.85"/>
    <mu2 value="0.85"/>
    <maxContacts>10</maxContacts>
    <minDepth>0.0001</minDepth>
    <maxVel>0.01</maxVel>
    <selfCollide value="True"/>
  </gazebo>
  <joint name="r_leg6_ankle_r_joint" type="revolute">
    <parent link="r_leg5_ankle_p_link"/>
    <child link="r_leg6_ankle_r_link"/>
    <origin rpy="0.0 0.0 0.0" xyz="0.0 0.0 0.0"/>
    <axis xyz="1 0 0"/>
    <limit effort="150.0" lower="-0.5235987755982988" upper="0.5235987755982988" velocity="33.0"/>
    <safety_controller k_position="121.0" k_velocity="540.0" soft_lower_limit="-0.47123889803846897" soft_upper_limit="0.47123889803846897"/>
    <dynamics damping="0.0" friction="0.0"/>
  </joint>
  <gazebo reference="r_leg6_ankle_r_joint">
    <!-- Needed for ODE to output external wrenches on joints -->
    <provideFeedback>true</provideFeedback>
    <preserveFixedJoint>true</preserveFixedJoint>
    <disableFixedJointLumping>true</disableFixedJointLumping>
  </gazebo>
  <ros2_control name="r_leg_system" type="system">
    <hardware>
      <plugin>ign_ros2_control/IgnitionSystem</plugin>
    </hardware>
    <joint name="r_leg1_hip_y_joint">
      <param name="initial_position">0.0</param>
      <command_interface name="position"/>
      <state_interface name="position">
        <param name="initial_value">0.0</param>
      </state_interface>
      <state_interface name="velocity"/>
      <state_interface name="effort"/>
    </joint>
    <transmission name="r_leg1_hip_y_transmission">
      <plugin>transmission_interface/SimpleTransmission</plugin>
      <joint name="r_leg1_hip_y_joint" role="joint1">
        <mechanical_reduction>1.0</mechanical_reduction>
        <offset>0</offset>
      </joint>
      <actuator name="r_leg1_hip_y_actuator" role="actuator1">
        <mechanical_reduction>1.0</mechanical_reduction>
        <offset>0</offset>
      </actuator>
    </transmission>
    <joint name="r_leg2_hip_r_joint">
      <param name="initial_position">0.0</param>
      <command_interface name="position"/>
      <state_interface name="position">
        <param name="initial_value">0.0</param>
      </state_interface>
      <state_interface name="velocity"/>
      <state_interface name="effort"/>
    </joint>
    <transmission name="r_leg2_hip_r_transmission">
      <plugin>transmission_interface/SimpleTransmission</plugin>
      <joint name="r_leg2_hip_r_joint" role="joint1">
        <mechanical_reduction>1.0</mechanical_reduction>
        <offset>0</offset>
      </joint>
      <actuator name="r_leg2_hip_r_actuator" role="actuator1">
        <mechanical_reduction>1.0</mechanical_reduction>
        <offset>0</offset>
      </actuator>
    </transmission>
    <joint name="r_leg3_hip_p_joint">
      <param name="initial_position">0.0</param>
      <command_interface name="position"/>
      <state_interface name="position">
        <param name="initial_value">0.0</param>
      </state_interface>
      <state_interface name="velocity"/>
      <state_interface name="effort"/>
    </joint>
    <transmission name="r_leg3_hip_p_transmission">
      <plugin>transmission_interface/SimpleTransmission</plugin>
      <joint name="r_leg3_hip_p_joint" role="joint1">
        <mechanical_reduction>1.0</mechanical_reduction>
        <offset>0</offset>
      </joint>
      <actuator name="r_leg3_hip_p_actuator" role="actuator1">
        <mechanical_reduction>1.0</mechanical_reduction>
        <offset>0</offset>
      </actuator>
    </transmission>
    <joint name="r_leg4_knee_p_joint">
      <param name="initial_position">0.0</param>
      <command_interface name="position"/>
      <state_interface name="position">
        <param name="initial_value">0.0</param>
      </state_interface>
      <state_interface name="velocity"/>
      <state_interface name="effort"/>
    </joint>
    <transmission name="r_leg4_knee_p_transmission">
      <plugin>transmission_interface/SimpleTransmission</plugin>
      <joint name="r_leg4_knee_p_joint" role="joint1">
        <mechanical_reduction>1.0</mechanical_reduction>
        <offset>0</offset>
      </joint>
      <actuator name="r_leg4_knee_p_actuator" role="actuator1">
        <mechanical_reduction>1.0</mechanical_reduction>
        <offset>0</offset>
      </actuator>
    </transmission>
    <joint name="r_leg5_ankle_p_joint">
      <param name="initial_position">0.0</param>
      <command_interface name="position"/>
      <state_interface name="position">
        <param name="initial_value">0.0</param>
      </state_interface>
      <state_interface name="velocity"/>
      <state_interface name="effort"/>
    </joint>
    <transmission name="r_leg5_ankle_p_transmission">
      <plugin>transmission_interface/SimpleTransmission</plugin>
      <joint name="r_leg5_ankle_p_joint" role="joint1">
        <mechanical_reduction>1.0</mechanical_reduction>
        <offset>0</offset>
      </joint>
      <actuator name="r_leg5_ankle_p_actuator" role="actuator1">
        <mechanical_reduction>1.0</mechanical_reduction>
        <offset>0</offset>
      </actuator>
    </transmission>
    <joint name="r_leg6_ankle_r_joint">
      <param name="initial_position">0.0</param>
      <command_interface name="position"/>
      <state_interface name="position">
        <param name="initial_value">0.0</param>
      </state_interface>
      <state_interface name="velocity"/>
      <state_interface name="effort"/>
    </joint>
    <transmission name="r_leg6_ankle_r_transmission">
      <plugin>transmission_interface/SimpleTransmission</plugin>
      <joint name="r_leg6_ankle_r_joint" role="joint1">
        <mechanical_reduction>1.0</mechanical_reduction>
        <offset>0</offset>
      </joint>
      <actuator name="r_leg6_ankle_r_actuator" role="actuator1">
        <mechanical_reduction>1.0</mechanical_reduction>
        <offset>0</offset>
      </actuator>
    </transmission>
  </ros2_control>
  <link name="waist1_y_link">
    <visual name="waist1_y_link_vis">
      <geometry>
        <mesh filename="package://human_description/meshes/M92C/visual/waist1_y_link.stl" scale="1e-3 1e-3 1e-3"/>
      </geometry>
      <material name="metal">
        <color rgba="0.85 0.85 0.85 1"/>
      </material>
    </visual>
    <collision name="waist1_y_link_col">
      <geometry>
        <mesh filename="package://human_description/meshes/M92C/collision/waist1_y_link.stl" scale="1e-3 1e-3 1e-3"/>
      </geometry>
    </collision>
    <inertial>
      <origin rpy="0.0 0.0 0.0" xyz="0.05228227436909447 -0.0019631353622728462 -0.007856317778003358"/>
      <mass value="4.5102068001828"/>
      <inertia ixx="0.007130659310212181" ixy="0.0004182105123634317" ixz="-0.002860047424946122" iyy="0.018821749702855318" iyz="7.15299568415304e-05" izz="0.019071307195176378"/>
    </inertial>
  </link>
  <gazebo reference="waist1_y_link">
    <mu1 value="0.85"/>
    <mu2 value="0.85"/>
    <maxContacts>10</maxContacts>
    <minDepth>0.0001</minDepth>
    <maxVel>0.01</maxVel>
    <selfCollide value="True"/>
  </gazebo>
  <joint name="waist1_y_joint" type="revolute">
    <parent link="base_link"/>
    <child link="waist1_y_link"/>
    <origin rpy="0.0 0.0 0.0" xyz="-0.0669241 0.0 0.0593373"/>
    <axis xyz="0 0 1"/>
    <limit effort="200.0" lower="-1.0471975511965976" upper="1.0471975511965976" velocity="6.0"/>
    <safety_controller k_position="121.0" k_velocity="540.0" soft_lower_limit="-0.9948376736367678" soft_upper_limit="0.9948376736367678"/>
    <dynamics damping="0.0" friction="0.0"/>
  </joint>
  <gazebo reference="waist1_y_joint">
    <!-- Needed for ODE to output external wrenches on joints -->
    <provideFeedback>true</provideFeedback>
    <preserveFixedJoint>true</preserveFixedJoint>
    <disableFixedJointLumping>true</disableFixedJointLumping>
  </gazebo>
  <link name="waist2_p_link">
    <visual name="waist2_p_link_vis">
      <geometry>
        <mesh filename="package://human_description/meshes/M92C/visual/waist2_p_link.stl" scale="1e-3 1e-3 1e-3"/>
      </geometry>
      <material name="metal">
        <color rgba="0.85 0.85 0.85 1"/>
      </material>
    </visual>
    <collision name="waist2_p_link_col">
      <geometry>
        <mesh filename="package://human_description/meshes/M92C/collision/waist2_p_link.stl" scale="1e-3 1e-3 1e-3"/>
      </geometry>
    </collision>
    <inertial>
      <origin rpy="0.0 0.0 0.0" xyz="-0.04219957199812197 -0.001238008200819568 0.27864890346280985"/>
      <mass value="22.300457191032756"/>
      <inertia ixx="0.7323354518342496" ixy="0.00048155852160940155" ixz="-0.07069783702279761" iyy="0.6880022781892486" iyz="0.0005725217970312026" izz="0.20674940877633646"/>
    </inertial>
  </link>
  <gazebo reference="waist2_p_link">
    <mu1 value="0.85"/>
    <mu2 value="0.85"/>
    <maxContacts>10</maxContacts>
    <minDepth>0.0001</minDepth>
    <maxVel>0.01</maxVel>
    <selfCollide value="True"/>
  </gazebo>
  <joint name="waist2_p_joint" type="revolute">
    <parent link="waist1_y_link"/>
    <child link="waist2_p_link"/>
    <origin rpy="0.0 0.0 0.0" xyz="0.1 0.0 0.0"/>
    <axis xyz="0 1 0"/>
    <limit effort="200.0" lower="-0.05235987755982988" upper="1.2217304763960306" velocity="6.0"/>
    <safety_controller k_position="121.0" k_velocity="540.0" soft_lower_limit="0.0" soft_upper_limit="1.1693705988362006"/>
    <dynamics damping="0.0" friction="0.0"/>
  </joint>
  <gazebo reference="waist2_p_joint">
    <!-- Needed for ODE to output external wrenches on joints -->
    <provideFeedback>true</provideFeedback>
    <preserveFixedJoint>true</preserveFixedJoint>
    <disableFixedJointLumping>true</disableFixedJointLumping>
  </gazebo>
  <ros2_control name="waist_system" type="system">
    <hardware>
      <plugin>ign_ros2_control/IgnitionSystem</plugin>
    </hardware>
    <joint name="waist1_y_joint">
      <param name="initial_position">0.0</param>
      <command_interface name="position"/>
      <state_interface name="position">
        <param name="initial_value">0.0</param>
      </state_interface>
      <state_interface name="velocity"/>
      <state_interface name="effort"/>
    </joint>
    <transmission name="waist1_y_transmission">
      <plugin>transmission_interface/SimpleTransmission</plugin>
      <joint name="waist1_y_joint" role="joint1">
        <mechanical_reduction>1.0</mechanical_reduction>
        <offset>0</offset>
      </joint>
      <actuator name="waist1_y_actuator" role="actuator1">
        <mechanical_reduction>1.0</mechanical_reduction>
        <offset>0</offset>
      </actuator>
    </transmission>
    <joint name="waist2_p_joint">
      <param name="initial_position">0.0</param>
      <command_interface name="position"/>
      <state_interface name="position">
        <param name="initial_value">0.0</param>
      </state_interface>
      <state_interface name="velocity"/>
      <state_interface name="effort"/>
    </joint>
    <transmission name="waist2_p_transmission">
      <plugin>transmission_interface/SimpleTransmission</plugin>
      <joint name="waist2_p_joint" role="joint1">
        <mechanical_reduction>1.0</mechanical_reduction>
        <offset>0</offset>
      </joint>
      <actuator name="waist2_p_actuator" role="actuator1">
        <mechanical_reduction>1.0</mechanical_reduction>
        <offset>0</offset>
      </actuator>
    </transmission>
  </ros2_control>
  <link name="l_arm1_shoulder_p_link">
    <visual name="l_arm1_shoulder_p_link_vis">
      <geometry>
        <mesh filename="package://human_description/meshes/M92C/visual/l_arm1_shoulder_p_link.stl" scale="1e-3 1e-3 1e-3"/>
      </geometry>
      <material name="metal">
        <color rgba="0.85 0.85 0.85 1"/>
      </material>
    </visual>
    <collision name="l_arm1_shoulder_p_link_col">
      <geometry>
        <mesh filename="package://human_description/meshes/M92C/collision/l_arm1_shoulder_p_link.stl" scale="1e-3 1e-3 1e-3"/>
      </geometry>
    </collision>
    <inertial>
      <origin rpy="0.0 0.0 0.0" xyz="-0.0131 -0.00467 -0.00365"/>
      <mass value="1.55"/>
      <inertia ixx="0.00364" ixy="0.00254" ixz="-0.00295" iyy="0.014875019" iyz="0.000635" izz="0.015"/>
    </inertial>
  </link>
  <gazebo reference="l_arm1_shoulder_p_link">
    <mu1 value="0.85"/>
    <mu2 value="0.85"/>
    <maxContacts>10</maxContacts>
    <minDepth>0.0001</minDepth>
    <maxVel>0.01</maxVel>
    <selfCollide value="True"/>
  </gazebo>
  <joint name="l_arm1_shoulder_p_joint" type="revolute">
    <parent link="waist2_p_link"/>
    <child link="l_arm1_shoulder_p_link"/>
    <origin rpy="-0.087 0.008 0.08722222" xyz="-0.04647802646 0.236711636842 0.357156560927"/>
    <axis xyz="0 1 0"/>
    <limit effort="102.0" lower="-3.141592653589793" upper="1.0000736613927508" velocity="4.71"/>
    <safety_controller k_position="121.0" k_velocity="540.0" soft_lower_limit="-3.0892327760299634" soft_upper_limit="0.9477137838329208"/>
    <dynamics damping="0.0" friction="0.0"/>
  </joint>
  <gazebo reference="l_arm1_shoulder_p_joint">
    <!-- Needed for ODE to output external wrenches on joints -->
    <provideFeedback>true</provideFeedback>
    <preserveFixedJoint>true</preserveFixedJoint>
    <disableFixedJointLumping>true</disableFixedJointLumping>
  </gazebo>
  <link name="l_arm2_shoulder_r_link">
    <visual name="l_arm2_shoulder_r_link_vis">
      <geometry>
        <mesh filename="package://human_description/meshes/M92C/visual/l_arm2_shoulder_r_link.stl" scale="1e-3 1e-3 1e-3"/>
      </geometry>
      <material name="metal">
        <color rgba="0.85 0.85 0.85 1"/>
      </material>
    </visual>
    <collision name="l_arm2_shoulder_r_link_col">
      <geometry>
        <mesh filename="package://human_description/meshes/M92C/collision/l_arm2_shoulder_r_link.stl" scale="1e-3 1e-3 1e-3"/>
      </geometry>
    </collision>
    <inertial>
      <origin rpy="0.0 0.0 0.0" xyz="0.000165 0.00054 -0.111"/>
      <mass value="1.25"/>
      <inertia ixx="0.0046617" ixy="2.33e-06" ixz="3.53e-05" iyy="0.00522" iyz="-5.66e-05" izz="0.00195"/>
    </inertial>
  </link>
  <gazebo reference="l_arm2_shoulder_r_link">
    <mu1 value="0.85"/>
    <mu2 value="0.85"/>
    <maxContacts>10</maxContacts>
    <minDepth>0.0001</minDepth>
    <maxVel>0.01</maxVel>
    <selfCollide value="True"/>
  </gazebo>
  <joint name="l_arm2_shoulder_r_joint" type="revolute">
    <parent link="l_arm1_shoulder_p_link"/>
    <child link="l_arm2_shoulder_r_link"/>
    <origin rpy="0.0 0.0 0.0" xyz="0.0 0.0 0.0"/>
    <axis xyz="1 0 0"/>
    <limit effort="102.0" lower="-0.17453292519943295" upper="1.5707963267948966" velocity="4.71"/>
    <safety_controller k_position="121.0" k_velocity="540.0" soft_lower_limit="-0.12217304763960307" soft_upper_limit="1.5184364492350666"/>
    <dynamics damping="0.0" friction="0.0"/>
  </joint>
  <gazebo reference="l_arm2_shoulder_r_joint">
    <!-- Needed for ODE to output external wrenches on joints -->
    <provideFeedback>true</provideFeedback>
    <preserveFixedJoint>true</preserveFixedJoint>
    <disableFixedJointLumping>true</disableFixedJointLumping>
  </gazebo>
  <link name="l_arm3_shoulder_y_link">
    <visual name="l_arm3_shoulder_y_link_vis">
      <geometry>
        <mesh filename="package://human_description/meshes/M92C/visual/l_arm3_shoulder_y_link.stl" scale="1e-3 1e-3 1e-3"/>
      </geometry>
      <material name="metal">
        <color rgba="0.85 0.85 0.85 1"/>
      </material>
    </visual>
    <collision name="l_arm3_shoulder_y_link_col">
      <geometry>
        <mesh filename="package://human_description/meshes/M92C/collision/l_arm3_shoulder_y_link.stl" scale="1e-3 1e-3 1e-3"/>
      </geometry>
    </collision>
    <inertial>
      <origin rpy="0.0 0.0 0.0" xyz="5.4e-05 0.00362 -0.273"/>
      <mass value="1.11"/>
      <inertia ixx="0.00277" ixy="-2.31e-06" ixz="8.59e-07" iyy="0.00289" iyz="9.1e-06" izz="0.0010087315"/>
    </inertial>
  </link>
  <gazebo reference="l_arm3_shoulder_y_link">
    <mu1 value="0.85"/>
    <mu2 value="0.85"/>
    <maxContacts>10</maxContacts>
    <minDepth>0.0001</minDepth>
    <maxVel>0.01</maxVel>
    <selfCollide value="True"/>
  </gazebo>
  <joint name="l_arm3_shoulder_y_joint" type="revolute">
    <parent link="l_arm2_shoulder_r_link"/>
    <child link="l_arm3_shoulder_y_link"/>
    <origin rpy="0.0 0.0 0.0" xyz="0.0 0.0 0.0"/>
    <axis xyz="0 0 1"/>
    <limit effort="29.0" lower="-3.139847324337799" upper="3.139847324337799" velocity="8.12"/>
    <safety_controller k_position="121.0" k_velocity="540.0" soft_lower_limit="-3.087487446777969" soft_upper_limit="3.087487446777969"/>
    <dynamics damping="0.0" friction="0.0"/>
  </joint>
  <gazebo reference="l_arm3_shoulder_y_joint">
    <!-- Needed for ODE to output external wrenches on joints -->
    <provideFeedback>true</provideFeedback>
    <preserveFixedJoint>true</preserveFixedJoint>
    <disableFixedJointLumping>true</disableFixedJointLumping>
  </gazebo>
  <link name="l_arm4_elbow_p_link">
    <visual name="l_arm4_elbow_p_link_vis">
      <geometry>
        <mesh filename="package://human_description/meshes/M92C/visual/l_arm4_elbow_p_link.stl" scale="1e-3 1e-3 1e-3"/>
      </geometry>
      <material name="metal">
        <color rgba="0.85 0.85 0.85 1"/>
      </material>
    </visual>
    <collision name="l_arm4_elbow_p_link_col">
      <geometry>
        <mesh filename="package://human_description/meshes/M92C/collision/l_arm4_elbow_p_link.stl" scale="1e-3 1e-3 1e-3"/>
      </geometry>
    </collision>
    <inertial>
      <origin rpy="0.0 0.0 0.0" xyz="-0.000896 0.00121 -0.0832"/>
      <mass value="0.875"/>
      <inertia ixx="0.00181" ixy="-9.68e-06" ixz="2.67e-05" iyy="0.0016062824" iyz="-6.85e-05" izz="0.00106"/>
    </inertial>
  </link>
  <gazebo reference="l_arm4_elbow_p_link">
    <mu1 value="0.85"/>
    <mu2 value="0.85"/>
    <maxContacts>10</maxContacts>
    <minDepth>0.0001</minDepth>
    <maxVel>0.01</maxVel>
    <selfCollide value="True"/>
  </gazebo>
  <joint name="l_arm4_elbow_p_joint" type="revolute">
    <parent link="l_arm3_shoulder_y_link"/>
    <child link="l_arm4_elbow_p_link"/>
    <origin rpy="0.0 0.0 0.0" xyz="0.0 0.0 -0.3012"/>
    <axis xyz="0 1 0"/>
    <limit effort="29.0" lower="-1.9198621771937625" upper="0.05235987755982988" velocity="8.12"/>
    <safety_controller k_position="121.0" k_velocity="540.0" soft_lower_limit="-1.8675022996339325" soft_upper_limit="0.0"/>
    <dynamics damping="0.0" friction="0.0"/>
  </joint>
  <gazebo reference="l_arm4_elbow_p_joint">
    <!-- Needed for ODE to output external wrenches on joints -->
    <provideFeedback>true</provideFeedback>
    <preserveFixedJoint>true</preserveFixedJoint>
    <disableFixedJointLumping>true</disableFixedJointLumping>
  </gazebo>
  <link name="l_arm5_wrist_y_link">
    <visual name="l_arm5_wrist_y_link_vis">
      <geometry>
        <mesh filename="package://human_description/meshes/M92C/visual/l_arm5_wrist_y_link.stl" scale="1e-3 1e-3 1e-3"/>
      </geometry>
      <material name="metal">
        <color rgba="0.85 0.85 0.85 1"/>
      </material>
    </visual>
    <collision name="l_arm5_wrist_y_link_col">
      <geometry>
        <mesh filename="package://human_description/meshes/M92C/collision/l_arm5_wrist_y_link.stl" scale="1e-3 1e-3 1e-3"/>
      </geometry>
    </collision>
    <inertial>
      <origin rpy="0.0 0.0 0.0" xyz="0.000146818 -0.003847154 -0.23219571"/>
      <mass value="1.08"/>
      <inertia ixx="0.002762795" ixy="-1.0506e-05" ixz="-0.000167739" iyy="0.002773731" iyz="6.679e-05" izz="0.00081377"/>
    </inertial>
  </link>
  <gazebo reference="l_arm5_wrist_y_link">
    <mu1 value="0.85"/>
    <mu2 value="0.85"/>
    <maxContacts>10</maxContacts>
    <minDepth>0.0001</minDepth>
    <maxVel>0.01</maxVel>
    <selfCollide value="True"/>
  </gazebo>
  <joint name="l_arm5_wrist_y_joint" type="revolute">
    <parent link="l_arm4_elbow_p_link"/>
    <child link="l_arm5_wrist_y_link"/>
    <origin rpy="0.0 0.0 0.0" xyz="0.0 0.0 0.0"/>
    <axis xyz="0 0 1"/>
    <limit effort="38.76" lower="-3.141592653589793" upper="3.141592653589793" velocity="14.37"/>
    <safety_controller k_position="121.0" k_velocity="540.0" soft_lower_limit="-3.0892327760299634" soft_upper_limit="3.0892327760299634"/>
    <dynamics damping="0.0" friction="0.0"/>
  </joint>
  <gazebo reference="l_arm5_wrist_y_joint">
    <!-- Needed for ODE to output external wrenches on joints -->
    <provideFeedback>true</provideFeedback>
    <preserveFixedJoint>true</preserveFixedJoint>
    <disableFixedJointLumping>true</disableFixedJointLumping>
  </gazebo>
  <link name="l_arm6_wrist_r_link">
    <visual name="l_arm6_wrist_r_link_vis">
      <geometry>
        <mesh filename="package://human_description/meshes/M92C/visual/l_arm6_wrist_r_link.stl" scale="1e-3 1e-3 1e-3"/>
      </geometry>
      <material name="metal">
        <color rgba="0.85 0.85 0.85 1"/>
      </material>
    </visual>
    <collision name="l_arm6_wrist_r_link_col">
      <geometry>
        <mesh filename="package://human_description/meshes/M92C/collision/l_arm6_wrist_r_link.stl" scale="1e-3 1e-3 1e-3"/>
      </geometry>
    </collision>
    <inertial>
      <origin rpy="0.0 0.0 0.0" xyz="0 0.002745123 -0.013160251"/>
      <mass value="0.04337905"/>
      <inertia ixx="8.2871654e-06" ixy="-0.0" ixz="0.0" iyy="4.136e-06" iyz="5.76e-07" izz="6.065e-06"/>
    </inertial>
  </link>
  <gazebo reference="l_arm6_wrist_r_link">
    <mu1 value="0.85"/>
    <mu2 value="0.85"/>
    <maxContacts>10</maxContacts>
    <minDepth>0.0001</minDepth>
    <maxVel>0.01</maxVel>
    <selfCollide value="True"/>
  </gazebo>
  <joint name="l_arm6_wrist_r_joint" type="revolute">
    <parent link="l_arm5_wrist_y_link"/>
    <child link="l_arm6_wrist_r_link"/>
    <origin rpy="0.0 0.0 0.0" xyz="0.0 -0.01 -0.3232"/>
    <axis xyz="1 0 0"/>
    <limit effort="21.6" lower="-1.4294246573833558" upper="0.7906341511534313" velocity="8.81"/>
    <safety_controller k_position="121.0" k_velocity="540.0" soft_lower_limit="-1.377064779823526" soft_upper_limit="0.7382742735936014"/>
    <dynamics damping="0.0" friction="0.0"/>
  </joint>
  <gazebo reference="l_arm6_wrist_r_joint">
    <!-- Needed for ODE to output external wrenches on joints -->
    <provideFeedback>true</provideFeedback>
    <preserveFixedJoint>true</preserveFixedJoint>
    <disableFixedJointLumping>true</disableFixedJointLumping>
  </gazebo>
  <link name="l_arm7_wrist_p_link">
    <visual name="l_arm7_wrist_p_link_vis">
      <geometry>
        <mesh filename="package://human_description/meshes/M92C/visual/l_arm7_wrist_p_link.stl" scale="1e-3 1e-3 1e-3"/>
      </geometry>
      <material name="metal">
        <color rgba="0.85 0.85 0.85 1"/>
      </material>
    </visual>
    <collision name="l_arm7_wrist_p_link_col">
      <geometry>
        <mesh filename="package://human_description/meshes/M92C/collision/l_arm7_wrist_p_link.stl" scale="1e-3 1e-3 1e-3"/>
      </geometry>
    </collision>
    <inertial>
      <origin rpy="0.0 0.0 0.0" xyz="0.0043 0.00502 -0.0929"/>
      <mass value="1.04"/>
      <inertia ixx="0.004646142" ixy="0.000167163" ixz="0.000213092" iyy="0.0046271044" iyz="-0.000190965" izz="0.001358704"/>
    </inertial>
  </link>
  <gazebo reference="l_arm7_wrist_p_link">
    <mu1 value="0.85"/>
    <mu2 value="0.85"/>
    <maxContacts>10</maxContacts>
    <minDepth>0.0001</minDepth>
    <maxVel>0.01</maxVel>
    <selfCollide value="True"/>
  </gazebo>
  <joint name="l_arm7_wrist_p_joint" type="revolute">
    <parent link="l_arm6_wrist_r_link"/>
    <child link="l_arm7_wrist_p_link"/>
    <origin rpy="0.0 0.0 0.0" xyz="0.0 0.0 -0.018"/>
    <axis xyz="0 1 0"/>
    <limit effort="21.6" lower="-0.8098327729253689" upper="0.6894050545377601" velocity="8.81"/>
    <safety_controller k_position="121.0" k_velocity="540.0" soft_lower_limit="-0.7574728953655391" soft_upper_limit="0.6370451769779303"/>
    <dynamics damping="0.0" friction="0.0"/>
  </joint>
  <gazebo reference="l_arm7_wrist_p_joint">
    <!-- Needed for ODE to output external wrenches on joints -->
    <provideFeedback>true</provideFeedback>
    <preserveFixedJoint>true</preserveFixedJoint>
    <disableFixedJointLumping>true</disableFixedJointLumping>
  </gazebo>
  <link name="l_end_effector_link"/>
  <joint name="l_end_effector_fixed_joint" type="fixed">
    <parent link="l_arm7_wrist_p_link"/>
    <child link="l_end_effector_link"/>
    <origin rpy="0 0 0" xyz="0 0 0"/>
    <axis xyz="0 0 1"/>
  </joint>
  <ros2_control name="l_arm_system" type="system">
    <hardware>
      <plugin>ign_ros2_control/IgnitionSystem</plugin>
    </hardware>
    <joint name="l_arm1_shoulder_p_joint">
      <param name="initial_position">0.0</param>
      <command_interface name="position"/>
      <state_interface name="position">
        <param name="initial_value">0.0</param>
      </state_interface>
      <state_interface name="velocity"/>
      <state_interface name="effort"/>
    </joint>
    <transmission name="l_arm1_shoulder_p_transmission">
      <plugin>transmission_interface/SimpleTransmission</plugin>
      <joint name="l_arm1_shoulder_p_joint" role="joint1">
        <mechanical_reduction>1.0</mechanical_reduction>
        <offset>0</offset>
      </joint>
      <actuator name="l_arm1_shoulder_p_actuator" role="actuator1">
        <mechanical_reduction>1.0</mechanical_reduction>
        <offset>0</offset>
      </actuator>
    </transmission>
    <joint name="l_arm2_shoulder_r_joint">
      <param name="initial_position">0.0</param>
      <command_interface name="position"/>
      <state_interface name="position">
        <param name="initial_value">0.0</param>
      </state_interface>
      <state_interface name="velocity"/>
      <state_interface name="effort"/>
    </joint>
    <transmission name="l_arm2_shoulder_r_transmission">
      <plugin>transmission_interface/SimpleTransmission</plugin>
      <joint name="l_arm2_shoulder_r_joint" role="joint1">
        <mechanical_reduction>1.0</mechanical_reduction>
        <offset>0</offset>
      </joint>
      <actuator name="l_arm2_shoulder_r_actuator" role="actuator1">
        <mechanical_reduction>1.0</mechanical_reduction>
        <offset>0</offset>
      </actuator>
    </transmission>
    <joint name="l_arm3_shoulder_y_joint">
      <param name="initial_position">0.0</param>
      <command_interface name="position"/>
      <state_interface name="position">
        <param name="initial_value">0.0</param>
      </state_interface>
      <state_interface name="velocity"/>
      <state_interface name="effort"/>
    </joint>
    <transmission name="l_arm3_shoulder_y_transmission">
      <plugin>transmission_interface/SimpleTransmission</plugin>
      <joint name="l_arm3_shoulder_y_joint" role="joint1">
        <mechanical_reduction>1.0</mechanical_reduction>
        <offset>0</offset>
      </joint>
      <actuator name="l_arm3_shoulder_y_actuator" role="actuator1">
        <mechanical_reduction>1.0</mechanical_reduction>
        <offset>0</offset>
      </actuator>
    </transmission>
    <joint name="l_arm4_elbow_p_joint">
      <param name="initial_position">0.0</param>
      <command_interface name="position"/>
      <state_interface name="position">
        <param name="initial_value">0.0</param>
      </state_interface>
      <state_interface name="velocity"/>
      <state_interface name="effort"/>
    </joint>
    <transmission name="l_arm4_elbow_p_transmission">
      <plugin>transmission_interface/SimpleTransmission</plugin>
      <joint name="l_arm4_elbow_p_joint" role="joint1">
        <mechanical_reduction>1.0</mechanical_reduction>
        <offset>0</offset>
      </joint>
      <actuator name="l_arm4_elbow_p_actuator" role="actuator1">
        <mechanical_reduction>1.0</mechanical_reduction>
        <offset>0</offset>
      </actuator>
    </transmission>
    <joint name="l_arm5_wrist_y_joint">
      <param name="initial_position">0.0</param>
      <command_interface name="position"/>
      <state_interface name="position">
        <param name="initial_value">0.0</param>
      </state_interface>
      <state_interface name="velocity"/>
      <state_interface name="effort"/>
    </joint>
    <transmission name="l_arm5_wrist_y_transmission">
      <plugin>transmission_interface/SimpleTransmission</plugin>
      <joint name="l_arm5_wrist_y_joint" role="joint1">
        <mechanical_reduction>1.0</mechanical_reduction>
        <offset>0</offset>
      </joint>
      <actuator name="l_arm5_wrist_y_actuator" role="actuator1">
        <mechanical_reduction>1.0</mechanical_reduction>
        <offset>0</offset>
      </actuator>
    </transmission>
    <joint name="l_arm6_wrist_r_joint">
      <param name="initial_position">0.0</param>
      <command_interface name="position"/>
      <state_interface name="position">
        <param name="initial_value">0.0</param>
      </state_interface>
      <state_interface name="velocity"/>
      <state_interface name="effort"/>
    </joint>
    <transmission name="l_arm6_wrist_r_transmission">
      <plugin>transmission_interface/SimpleTransmission</plugin>
      <joint name="l_arm6_wrist_r_joint" role="joint1">
        <mechanical_reduction>1.0</mechanical_reduction>
        <offset>0</offset>
      </joint>
      <actuator name="l_arm6_wrist_r_actuator" role="actuator1">
        <mechanical_reduction>1.0</mechanical_reduction>
        <offset>0</offset>
      </actuator>
    </transmission>
    <joint name="l_arm7_wrist_p_joint">
      <param name="initial_position">0.0</param>
      <command_interface name="position"/>
      <state_interface name="position">
        <param name="initial_value">0.0</param>
      </state_interface>
      <state_interface name="velocity"/>
      <state_interface name="effort"/>
    </joint>
    <transmission name="l_arm7_wrist_p_transmission">
      <plugin>transmission_interface/SimpleTransmission</plugin>
      <joint name="l_arm7_wrist_p_joint" role="joint1">
        <mechanical_reduction>1.0</mechanical_reduction>
        <offset>0</offset>
      </joint>
      <actuator name="l_arm7_wrist_p_actuator" role="actuator1">
        <mechanical_reduction>1.0</mechanical_reduction>
        <offset>0</offset>
      </actuator>
    </transmission>
  </ros2_control>
  <link name="r_arm1_shoulder_p_link">
    <visual name="r_arm1_shoulder_p_link_vis">
      <geometry>
        <mesh filename="package://human_description/meshes/M92C/visual/r_arm1_shoulder_p_link.stl" scale="1e-3 1e-3 1e-3"/>
      </geometry>
      <material name="metal">
        <color rgba="0.85 0.85 0.85 1"/>
      </material>
    </visual>
    <collision name="r_arm1_shoulder_p_link_col">
      <geometry>
        <mesh filename="package://human_description/meshes/M92C/collision/r_arm1_shoulder_p_link.stl" scale="1e-3 1e-3 1e-3"/>
      </geometry>
    </collision>
    <inertial>
      <origin rpy="0.0 0.0 0.0" xyz="-0.0131 0.00467 -0.00365"/>
      <mass value="1.55"/>
      <inertia ixx="0.00364" ixy="-0.00254" ixz="-0.00295" iyy="0.014875019" iyz="-0.000635" izz="0.015"/>
    </inertial>
  </link>
  <gazebo reference="r_arm1_shoulder_p_link">
    <mu1 value="0.85"/>
    <mu2 value="0.85"/>
    <maxContacts>10</maxContacts>
    <minDepth>0.0001</minDepth>
    <maxVel>0.01</maxVel>
    <selfCollide value="True"/>
  </gazebo>
  <joint name="r_arm1_shoulder_p_joint" type="revolute">
    <parent link="waist2_p_link"/>
    <child link="r_arm1_shoulder_p_link"/>
    <origin rpy="0.087 0.008 -0.08722222" xyz="-0.04647802646 -0.236711636842 0.357156560927"/>
    <axis xyz="0 1 0"/>
    <limit effort="102.0" lower="-3.141592653589793" upper="1.0000736613927508" velocity="4.71"/>
    <safety_controller k_position="121.0" k_velocity="540.0" soft_lower_limit="-3.0892327760299634" soft_upper_limit="0.9477137838329208"/>
    <dynamics damping="0.0" friction="0.0"/>
  </joint>
  <gazebo reference="r_arm1_shoulder_p_joint">
    <!-- Needed for ODE to output external wrenches on joints -->
    <provideFeedback>true</provideFeedback>
    <preserveFixedJoint>true</preserveFixedJoint>
    <disableFixedJointLumping>true</disableFixedJointLumping>
  </gazebo>
  <link name="r_arm2_shoulder_r_link">
    <visual name="r_arm2_shoulder_r_link_vis">
      <geometry>
        <mesh filename="package://human_description/meshes/M92C/visual/r_arm2_shoulder_r_link.stl" scale="1e-3 1e-3 1e-3"/>
      </geometry>
      <material name="metal">
        <color rgba="0.85 0.85 0.85 1"/>
      </material>
    </visual>
    <collision name="r_arm2_shoulder_r_link_col">
      <geometry>
        <mesh filename="package://human_description/meshes/M92C/collision/r_arm2_shoulder_r_link.stl" scale="1e-3 1e-3 1e-3"/>
      </geometry>
    </collision>
    <inertial>
      <origin rpy="0.0 0.0 0.0" xyz="0.000165 -0.00054 -0.111"/>
      <mass value="1.25"/>
      <inertia ixx="0.0046617" ixy="-2.33e-06" ixz="3.53e-05" iyy="0.00522" iyz="5.66e-05" izz="0.00195"/>
    </inertial>
  </link>
  <gazebo reference="r_arm2_shoulder_r_link">
    <mu1 value="0.85"/>
    <mu2 value="0.85"/>
    <maxContacts>10</maxContacts>
    <minDepth>0.0001</minDepth>
    <maxVel>0.01</maxVel>
    <selfCollide value="True"/>
  </gazebo>
  <joint name="r_arm2_shoulder_r_joint" type="revolute">
    <parent link="r_arm1_shoulder_p_link"/>
    <child link="r_arm2_shoulder_r_link"/>
    <origin rpy="0.0 0.0 0.0" xyz="0.0 0.0 0.0"/>
    <axis xyz="1 0 0"/>
    <limit effort="102.0" lower="-1.5707963267948966" upper="0.17453292519943295" velocity="4.71"/>
    <safety_controller k_position="121.0" k_velocity="540.0" soft_lower_limit="-1.5184364492350666" soft_upper_limit="0.12217304763960307"/>
    <dynamics damping="0.0" friction="0.0"/>
  </joint>
  <gazebo reference="r_arm2_shoulder_r_joint">
    <!-- Needed for ODE to output external wrenches on joints -->
    <provideFeedback>true</provideFeedback>
    <preserveFixedJoint>true</preserveFixedJoint>
    <disableFixedJointLumping>true</disableFixedJointLumping>
  </gazebo>
  <link name="r_arm3_shoulder_y_link">
    <visual name="r_arm3_shoulder_y_link_vis">
      <geometry>
        <mesh filename="package://human_description/meshes/M92C/visual/r_arm3_shoulder_y_link.stl" scale="1e-3 1e-3 1e-3"/>
      </geometry>
      <material name="metal">
        <color rgba="0.85 0.85 0.85 1"/>
      </material>
    </visual>
    <collision name="r_arm3_shoulder_y_link_col">
      <geometry>
        <mesh filename="package://human_description/meshes/M92C/collision/r_arm3_shoulder_y_link.stl" scale="1e-3 1e-3 1e-3"/>
      </geometry>
    </collision>
    <inertial>
      <origin rpy="0.0 0.0 0.0" xyz="5.4e-05 -0.00362 -0.273"/>
      <mass value="1.11"/>
      <inertia ixx="0.00277" ixy="2.31e-06" ixz="8.59e-07" iyy="0.00289" iyz="-9.1e-06" izz="0.0010087315"/>
    </inertial>
  </link>
  <gazebo reference="r_arm3_shoulder_y_link">
    <mu1 value="0.85"/>
    <mu2 value="0.85"/>
    <maxContacts>10</maxContacts>
    <minDepth>0.0001</minDepth>
    <maxVel>0.01</maxVel>
    <selfCollide value="True"/>
  </gazebo>
  <joint name="r_arm3_shoulder_y_joint" type="revolute">
    <parent link="r_arm2_shoulder_r_link"/>
    <child link="r_arm3_shoulder_y_link"/>
    <origin rpy="0.0 0.0 0.0" xyz="0.0 0.0 0.0"/>
    <axis xyz="0 0 1"/>
    <limit effort="29.0" lower="-3.139847324337799" upper="3.139847324337799" velocity="8.12"/>
    <safety_controller k_position="121.0" k_velocity="540.0" soft_lower_limit="-3.087487446777969" soft_upper_limit="3.087487446777969"/>
    <dynamics damping="0.0" friction="0.0"/>
  </joint>
  <gazebo reference="r_arm3_shoulder_y_joint">
    <!-- Needed for ODE to output external wrenches on joints -->
    <provideFeedback>true</provideFeedback>
    <preserveFixedJoint>true</preserveFixedJoint>
    <disableFixedJointLumping>true</disableFixedJointLumping>
  </gazebo>
  <link name="r_arm4_elbow_p_link">
    <visual name="r_arm4_elbow_p_link_vis">
      <geometry>
        <mesh filename="package://human_description/meshes/M92C/visual/r_arm4_elbow_p_link.stl" scale="1e-3 1e-3 1e-3"/>
      </geometry>
      <material name="metal">
        <color rgba="0.85 0.85 0.85 1"/>
      </material>
    </visual>
    <collision name="r_arm4_elbow_p_link_col">
      <geometry>
        <mesh filename="package://human_description/meshes/M92C/collision/r_arm4_elbow_p_link.stl" scale="1e-3 1e-3 1e-3"/>
      </geometry>
    </collision>
    <inertial>
      <origin rpy="0.0 0.0 0.0" xyz="-0.000896 -0.00121 -0.0832"/>
      <mass value="0.875"/>
      <inertia ixx="0.00181" ixy="9.68e-06" ixz="2.67e-05" iyy="0.0016062824" iyz="6.85e-05" izz="0.00106"/>
    </inertial>
  </link>
  <gazebo reference="r_arm4_elbow_p_link">
    <mu1 value="0.85"/>
    <mu2 value="0.85"/>
    <maxContacts>10</maxContacts>
    <minDepth>0.0001</minDepth>
    <maxVel>0.01</maxVel>
    <selfCollide value="True"/>
  </gazebo>
  <joint name="r_arm4_elbow_p_joint" type="revolute">
    <parent link="r_arm3_shoulder_y_link"/>
    <child link="r_arm4_elbow_p_link"/>
    <origin rpy="0.0 0.0 0.0" xyz="0.0 0.0 -0.3012"/>
    <axis xyz="0 1 0"/>
    <limit effort="29.0" lower="-1.9198621771937625" upper="0.05235987755982988" velocity="8.12"/>
    <safety_controller k_position="121.0" k_velocity="540.0" soft_lower_limit="-1.8675022996339325" soft_upper_limit="0.0"/>
    <dynamics damping="0.0" friction="0.0"/>
  </joint>
  <gazebo reference="r_arm4_elbow_p_joint">
    <!-- Needed for ODE to output external wrenches on joints -->
    <provideFeedback>true</provideFeedback>
    <preserveFixedJoint>true</preserveFixedJoint>
    <disableFixedJointLumping>true</disableFixedJointLumping>
  </gazebo>
  <link name="r_arm5_wrist_y_link">
    <visual name="r_arm5_wrist_y_link_vis">
      <geometry>
        <mesh filename="package://human_description/meshes/M92C/visual/r_arm5_wrist_y_link.stl" scale="1e-3 1e-3 1e-3"/>
      </geometry>
      <material name="metal">
        <color rgba="0.85 0.85 0.85 1"/>
      </material>
    </visual>
    <collision name="r_arm5_wrist_y_link_col">
      <geometry>
        <mesh filename="package://human_description/meshes/M92C/collision/r_arm5_wrist_y_link.stl" scale="1e-3 1e-3 1e-3"/>
      </geometry>
    </collision>
    <inertial>
      <origin rpy="0.0 0.0 0.0" xyz="0.000146818 0.003847154 -0.23219571"/>
      <mass value="1.08"/>
      <inertia ixx="0.002762795" ixy="1.0506e-05" ixz="-0.000167739" iyy="0.002773731" iyz="-6.679e-05" izz="0.00081377"/>
    </inertial>
  </link>
  <gazebo reference="r_arm5_wrist_y_link">
    <mu1 value="0.85"/>
    <mu2 value="0.85"/>
    <maxContacts>10</maxContacts>
    <minDepth>0.0001</minDepth>
    <maxVel>0.01</maxVel>
    <selfCollide value="True"/>
  </gazebo>
  <joint name="r_arm5_wrist_y_joint" type="revolute">
    <parent link="r_arm4_elbow_p_link"/>
    <child link="r_arm5_wrist_y_link"/>
    <origin rpy="0.0 0.0 0.0" xyz="0.0 0.0 0.0"/>
    <axis xyz="0 0 1"/>
    <limit effort="38.76" lower="-3.141592653589793" upper="3.141592653589793" velocity="14.37"/>
    <safety_controller k_position="121.0" k_velocity="540.0" soft_lower_limit="-3.0892327760299634" soft_upper_limit="3.0892327760299634"/>
    <dynamics damping="0.0" friction="0.0"/>
  </joint>
  <gazebo reference="r_arm5_wrist_y_joint">
    <!-- Needed for ODE to output external wrenches on joints -->
    <provideFeedback>true</provideFeedback>
    <preserveFixedJoint>true</preserveFixedJoint>
    <disableFixedJointLumping>true</disableFixedJointLumping>
  </gazebo>
  <link name="r_arm6_wrist_r_link">
    <visual name="r_arm6_wrist_r_link_vis">
      <geometry>
        <mesh filename="package://human_description/meshes/M92C/visual/r_arm6_wrist_r_link.stl" scale="1e-3 1e-3 1e-3"/>
      </geometry>
      <material name="metal">
        <color rgba="0.85 0.85 0.85 1"/>
      </material>
    </visual>
    <collision name="r_arm6_wrist_r_link_col">
      <geometry>
        <mesh filename="package://human_description/meshes/M92C/collision/r_arm6_wrist_r_link.stl" scale="1e-3 1e-3 1e-3"/>
      </geometry>
    </collision>
    <inertial>
      <origin rpy="0.0 0.0 0.0" xyz="0 -0.002745123 -0.013160251"/>
      <mass value="0.04337905"/>
      <inertia ixx="8.2871654e-06" ixy="0.0" ixz="0.0" iyy="4.136e-06" iyz="-5.76e-07" izz="6.065e-06"/>
    </inertial>
  </link>
  <gazebo reference="r_arm6_wrist_r_link">
    <mu1 value="0.85"/>
    <mu2 value="0.85"/>
    <maxContacts>10</maxContacts>
    <minDepth>0.0001</minDepth>
    <maxVel>0.01</maxVel>
    <selfCollide value="True"/>
  </gazebo>
  <joint name="r_arm6_wrist_r_joint" type="revolute">
    <parent link="r_arm5_wrist_y_link"/>
    <child link="r_arm6_wrist_r_link"/>
    <origin rpy="0.0 0.0 0.0" xyz="0.0 0.01 -0.3232"/>
    <axis xyz="1 0 0"/>
    <limit effort="21.6" lower="-0.7906341511534313" upper="1.4294246573833558" velocity="8.81"/>
    <safety_controller k_position="121.0" k_velocity="540.0" soft_lower_limit="-0.7382742735936014" soft_upper_limit="1.377064779823526"/>
    <dynamics damping="0.0" friction="0.0"/>
  </joint>
  <gazebo reference="r_arm6_wrist_r_joint">
    <!-- Needed for ODE to output external wrenches on joints -->
    <provideFeedback>true</provideFeedback>
    <preserveFixedJoint>true</preserveFixedJoint>
    <disableFixedJointLumping>true</disableFixedJointLumping>
  </gazebo>
  <link name="r_arm7_wrist_p_link">
    <visual name="r_arm7_wrist_p_link_vis">
      <geometry>
        <mesh filename="package://human_description/meshes/M92C/visual/r_arm7_wrist_p_link.stl" scale="1e-3 1e-3 1e-3"/>
      </geometry>
      <material name="metal">
        <color rgba="0.85 0.85 0.85 1"/>
      </material>
    </visual>
    <collision name="r_arm7_wrist_p_link_col">
      <geometry>
        <mesh filename="package://human_description/meshes/M92C/collision/r_arm7_wrist_p_link.stl" scale="1e-3 1e-3 1e-3"/>
      </geometry>
    </collision>
    <inertial>
      <origin rpy="0.0 0.0 0.0" xyz="0.0043 -0.00502 -0.0929"/>
      <mass value="1.04"/>
      <inertia ixx="0.004646142" ixy="-0.000167163" ixz="0.000213092" iyy="0.0046271044" iyz="0.000190965" izz="0.001358704"/>
    </inertial>
  </link>
  <gazebo reference="r_arm7_wrist_p_link">
    <mu1 value="0.85"/>
    <mu2 value="0.85"/>
    <maxContacts>10</maxContacts>
    <minDepth>0.0001</minDepth>
    <maxVel>0.01</maxVel>
    <selfCollide value="True"/>
  </gazebo>
  <joint name="r_arm7_wrist_p_joint" type="revolute">
    <parent link="r_arm6_wrist_r_link"/>
    <child link="r_arm7_wrist_p_link"/>
    <origin rpy="0.0 0.0 0.0" xyz="0.0 0.0 -0.018"/>
    <axis xyz="0 1 0"/>
    <limit effort="21.6" lower="-0.8098327729253689" upper="0.6894050545377601" velocity="8.81"/>
    <safety_controller k_position="121.0" k_velocity="540.0" soft_lower_limit="-0.7574728953655391" soft_upper_limit="0.6370451769779303"/>
    <dynamics damping="0.0" friction="0.0"/>
  </joint>
  <gazebo reference="r_arm7_wrist_p_joint">
    <!-- Needed for ODE to output external wrenches on joints -->
    <provideFeedback>true</provideFeedback>
    <preserveFixedJoint>true</preserveFixedJoint>
    <disableFixedJointLumping>true</disableFixedJointLumping>
  </gazebo>
  <link name="r_end_effector_link"/>
  <joint name="r_end_effector_fixed_joint" type="fixed">
    <parent link="r_arm7_wrist_p_link"/>
    <child link="r_end_effector_link"/>
    <origin rpy="0 0 0" xyz="0 0 0"/>
    <axis xyz="0 0 1"/>
  </joint>
  <ros2_control name="r_arm_system" type="system">
    <hardware>
      <plugin>ign_ros2_control/IgnitionSystem</plugin>
    </hardware>
    <joint name="r_arm1_shoulder_p_joint">
      <param name="initial_position">0.0</param>
      <command_interface name="position"/>
      <state_interface name="position">
        <param name="initial_value">0.0</param>
      </state_interface>
      <state_interface name="velocity"/>
      <state_interface name="effort"/>
    </joint>
    <transmission name="r_arm1_shoulder_p_transmission">
      <plugin>transmission_interface/SimpleTransmission</plugin>
      <joint name="r_arm1_shoulder_p_joint" role="joint1">
        <mechanical_reduction>1.0</mechanical_reduction>
        <offset>0</offset>
      </joint>
      <actuator name="r_arm1_shoulder_p_actuator" role="actuator1">
        <mechanical_reduction>1.0</mechanical_reduction>
        <offset>0</offset>
      </actuator>
    </transmission>
    <joint name="r_arm2_shoulder_r_joint">
      <param name="initial_position">0.0</param>
      <command_interface name="position"/>
      <state_interface name="position">
        <param name="initial_value">0.0</param>
      </state_interface>
      <state_interface name="velocity"/>
      <state_interface name="effort"/>
    </joint>
    <transmission name="r_arm2_shoulder_r_transmission">
      <plugin>transmission_interface/SimpleTransmission</plugin>
      <joint name="r_arm2_shoulder_r_joint" role="joint1">
        <mechanical_reduction>1.0</mechanical_reduction>
        <offset>0</offset>
      </joint>
      <actuator name="r_arm2_shoulder_r_actuator" role="actuator1">
        <mechanical_reduction>1.0</mechanical_reduction>
        <offset>0</offset>
      </actuator>
    </transmission>
    <joint name="r_arm3_shoulder_y_joint">
      <param name="initial_position">0.0</param>
      <command_interface name="position"/>
      <state_interface name="position">
        <param name="initial_value">0.0</param>
      </state_interface>
      <state_interface name="velocity"/>
      <state_interface name="effort"/>
    </joint>
    <transmission name="r_arm3_shoulder_y_transmission">
      <plugin>transmission_interface/SimpleTransmission</plugin>
      <joint name="r_arm3_shoulder_y_joint" role="joint1">
        <mechanical_reduction>1.0</mechanical_reduction>
        <offset>0</offset>
      </joint>
      <actuator name="r_arm3_shoulder_y_actuator" role="actuator1">
        <mechanical_reduction>1.0</mechanical_reduction>
        <offset>0</offset>
      </actuator>
    </transmission>
    <joint name="r_arm4_elbow_p_joint">
      <param name="initial_position">0.0</param>
      <command_interface name="position"/>
      <state_interface name="position">
        <param name="initial_value">0.0</param>
      </state_interface>
      <state_interface name="velocity"/>
      <state_interface name="effort"/>
    </joint>
    <transmission name="r_arm4_elbow_p_transmission">
      <plugin>transmission_interface/SimpleTransmission</plugin>
      <joint name="r_arm4_elbow_p_joint" role="joint1">
        <mechanical_reduction>1.0</mechanical_reduction>
        <offset>0</offset>
      </joint>
      <actuator name="r_arm4_elbow_p_actuator" role="actuator1">
        <mechanical_reduction>1.0</mechanical_reduction>
        <offset>0</offset>
      </actuator>
    </transmission>
    <joint name="r_arm5_wrist_y_joint">
      <param name="initial_position">0.0</param>
      <command_interface name="position"/>
      <state_interface name="position">
        <param name="initial_value">0.0</param>
      </state_interface>
      <state_interface name="velocity"/>
      <state_interface name="effort"/>
    </joint>
    <transmission name="r_arm5_wrist_y_transmission">
      <plugin>transmission_interface/SimpleTransmission</plugin>
      <joint name="r_arm5_wrist_y_joint" role="joint1">
        <mechanical_reduction>1.0</mechanical_reduction>
        <offset>0</offset>
      </joint>
      <actuator name="r_arm5_wrist_y_actuator" role="actuator1">
        <mechanical_reduction>1.0</mechanical_reduction>
        <offset>0</offset>
      </actuator>
    </transmission>
    <joint name="r_arm6_wrist_r_joint">
      <param name="initial_position">0.0</param>
      <command_interface name="position"/>
      <state_interface name="position">
        <param name="initial_value">0.0</param>
      </state_interface>
      <state_interface name="velocity"/>
      <state_interface name="effort"/>
    </joint>
    <transmission name="r_arm6_wrist_r_transmission">
      <plugin>transmission_interface/SimpleTransmission</plugin>
      <joint name="r_arm6_wrist_r_joint" role="joint1">
        <mechanical_reduction>1.0</mechanical_reduction>
        <offset>0</offset>
      </joint>
      <actuator name="r_arm6_wrist_r_actuator" role="actuator1">
        <mechanical_reduction>1.0</mechanical_reduction>
        <offset>0</offset>
      </actuator>
    </transmission>
    <joint name="r_arm7_wrist_p_joint">
      <param name="initial_position">0.0</param>
      <command_interface name="position"/>
      <state_interface name="position">
        <param name="initial_value">0.0</param>
      </state_interface>
      <state_interface name="velocity"/>
      <state_interface name="effort"/>
    </joint>
    <transmission name="r_arm7_wrist_p_transmission">
      <plugin>transmission_interface/SimpleTransmission</plugin>
      <joint name="r_arm7_wrist_p_joint" role="joint1">
        <mechanical_reduction>1.0</mechanical_reduction>
        <offset>0</offset>
      </joint>
      <actuator name="r_arm7_wrist_p_actuator" role="actuator1">
        <mechanical_reduction>1.0</mechanical_reduction>
        <offset>0</offset>
      </actuator>
    </transmission>
  </ros2_control>
  <link name="l_hand_palm_link">
    <visual name="l_hand_palm_link_vis">
      <origin rpy="0 0 0" xyz="0 0 0"/>
      <geometry>
        <sphere radius="0.005"/>
      </geometry>
      <material name="yellow">
        <color rgba="0.9 1.0 0.0 1.0"/>
      </material>
    </visual>
    <collision name="l_hand_palm_link_col">
      <origin rpy="0 0 0" xyz="0 0 0"/>
      <geometry>
        <sphere radius="0.005"/>
      </geometry>
    </collision>
    <inertial>
      <origin rpy="0. 0. 0." xyz="0. 0. 0."/>
      <mass value="1e-05"/>
      <inertia ixx="8.333333333333334e-11" ixy="0" ixz="0" iyy="8.333333333333334e-11" iyz="0" izz="1.25e-10"/>
    </inertial>
  </link>
  <gazebo reference="l_hand_palm_link">
    <mu1 value="0.85"/>
    <mu2 value="0.85"/>
    <maxContacts>10</maxContacts>
    <minDepth>0.0001</minDepth>
    <maxVel>0.01</maxVel>
    <selfCollide value="True"/>
  </gazebo>
  <joint name="l_hand_palm_fixed_joint" type="fixed">
    <parent link="l_arm7_wrist_p_link"/>
    <child link="l_hand_palm_link"/>
    <origin rpy="-3.1415926 0.0 1.5707963" xyz="0.0 0.0099 -0.0525"/>
    <axis xyz="0 0 1"/>
  </joint>
  <link name="l_thumb_cmc_y_link">
    <visual name="l_thumb_cmc_y_link_vis">
      <origin rpy="0 0 0" xyz="0 0 0"/>
      <geometry>
        <mesh filename="package://human_description/meshes/robot_hands/m92c_hand/visual/l_thumb_cmc_y_link.stl" scale="1e-3 1e-3 1e-3"/>
      </geometry>
      <material name="metal">
        <color rgba="0.85 0.85 0.85 1"/>
      </material>
    </visual>
    <collision name="l_thumb_cmc_y_link_col">
      <origin rpy="0 0 0" xyz="0 0 0"/>
      <geometry>
        <mesh filename="package://human_description/meshes/robot_hands/m92c_hand/collision/l_thumb_cmc_y_link.stl" scale="1e-3 1e-3 1e-3"/>
      </geometry>
    </collision>
    <inertial>
      <origin rpy="0.0 0.0 0.0" xyz="-0.0043445795 0.00073516028 0.00092114437"/>
      <mass value="4.5684539e-08"/>
      <inertia ixx="1.2807232e-07" ixy="-2.6031726e-08" ixz="9.2990531e-09" iyy="2.0994928e-07" iyz="2.3599758e-09" izz="1.8089779e-07"/>
    </inertial>
    <gazebo reference="l_thumb_cmc_y_link">
      <mu1 value="0.85"/>
      <mu2 value="0.85"/>
      <maxContacts>10</maxContacts>
      <minDepth>0.0001</minDepth>
      <maxVel>0.01</maxVel>
      <selfCollide value="True"/>
    </gazebo>
  </link>
  <joint name="l_thumb_cmc_y_joint" type="revolute">
    <parent link="l_hand_palm_link"/>
    <child link="l_thumb_cmc_y_link"/>
    <origin rpy="0.0 0.0 0.0" xyz="-0.021 0.02025 0.03885"/>
    <axis xyz="0 0 1"/>
    <limit effort="1000.0" lower="1.7627825445142729" upper="3.0962140930379407" velocity="1.0"/>
    <dynamics damping="0.05" friction="0.2"/>
  </joint>
  <gazebo reference="l_thumb_cmc_y_joint">
    <!-- Needed for ODE to output external wrenches on joints -->
    <provideFeedback>true</provideFeedback>
    <preserveFixedJoint>true</preserveFixedJoint>
    <disableFixedJointLumping>true</disableFixedJointLumping>
  </gazebo>
  <link name="l_thumb_cmc_p_link">
    <visual name="l_thumb_cmc_p_link_vis">
      <origin rpy="0 0 0" xyz="0 0 0"/>
      <geometry>
        <mesh filename="package://human_description/meshes/robot_hands/m92c_hand/visual/l_thumb_cmc_p_link.stl" scale="1e-3 1e-3 1e-3"/>
      </geometry>
      <material name="metal">
        <color rgba="0.85 0.85 0.85 1"/>
      </material>
    </visual>
    <collision name="l_thumb_cmc_p_link_col">
      <origin rpy="0 0 0" xyz="0 0 0"/>
      <geometry>
        <mesh filename="package://human_description/meshes/robot_hands/m92c_hand/collision/l_thumb_cmc_p_link.stl" scale="1e-3 1e-3 1e-3"/>
      </geometry>
    </collision>
    <inertial>
      <origin rpy="0.0 0.0 0.0" xyz="0.0037146239 0.0 0.025714396"/>
      <mass value="4.8359764e-07"/>
      <inertia ixx="1.1564874e-05" ixy="0.0" ixz="9.8057604e-07" iyy="1.2950704e-05" iyz="0.0" izz="4.7469757e-06"/>
    </inertial>
    <gazebo reference="l_thumb_cmc_p_link">
      <mu1 value="0.85"/>
      <mu2 value="0.85"/>
      <maxContacts>10</maxContacts>
      <minDepth>0.0001</minDepth>
      <maxVel>0.01</maxVel>
      <selfCollide value="True"/>
    </gazebo>
  </link>
  <joint name="l_thumb_cmc_p_joint" type="revolute">
    <parent link="l_thumb_cmc_y_link"/>
    <child link="l_thumb_cmc_p_link"/>
    <origin rpy="0.0 0.0 0.0" xyz="0.011 0.0 0.0"/>
    <axis xyz="0 1 0"/>
    <limit effort="1000.0" lower="0.31590459461097364" upper="0.9581857593448869" velocity="1.0"/>
    <dynamics damping="0.05" friction="0.2"/>
  </joint>
  <gazebo reference="l_thumb_cmc_p_joint">
    <!-- Needed for ODE to output external wrenches on joints -->
    <provideFeedback>true</provideFeedback>
    <preserveFixedJoint>true</preserveFixedJoint>
    <disableFixedJointLumping>true</disableFixedJointLumping>
  </gazebo>
  <link name="l_thumb_mcp_link">
    <visual name="l_thumb_mcp_link_vis">
      <origin rpy="0 0 0" xyz="0 0 0"/>
      <geometry>
        <mesh filename="package://human_description/meshes/robot_hands/m92c_hand/visual/l_thumb_mcp_link.stl" scale="1e-3 1e-3 1e-3"/>
      </geometry>
      <material name="metal">
        <color rgba="0.85 0.85 0.85 1"/>
      </material>
    </visual>
    <collision name="l_thumb_mcp_link_col">
      <origin rpy="0 0 0" xyz="0 0 0"/>
      <geometry>
        <mesh filename="package://human_description/meshes/robot_hands/m92c_hand/collision/l_thumb_mcp_link.stl" scale="1e-3 1e-3 1e-3"/>
      </geometry>
    </collision>
    <inertial>
      <origin rpy="0.0 0.0 0.0" xyz="0.0034051517 0 0.010727105"/>
      <mass value="7.5745038e-08"/>
      <inertia ixx="6.6016669e-07" ixy="0.0" ixz="-1.9329706e-08" iyy="6.3533864e-07" iyz="0.0" izz="6.546447e-07"/>
    </inertial>
    <gazebo reference="l_thumb_mcp_link">
      <mu1 value="0.85"/>
      <mu2 value="0.85"/>
      <maxContacts>10</maxContacts>
      <minDepth>0.0001</minDepth>
      <maxVel>0.01</maxVel>
      <selfCollide value="True"/>
    </gazebo>
  </link>
  <joint name="l_thumb_mcp_joint" type="revolute">
    <parent link="l_thumb_cmc_p_link"/>
    <child link="l_thumb_mcp_link"/>
    <origin rpy="0.0 0.0 0.0" xyz="0.0 0.0 0.05572"/>
    <axis xyz="0 1 0"/>
    <limit effort="1000.0" lower="0.0" upper="1.0000736613927508" velocity="1.0"/>
    <dynamics damping="0.05" friction="0.2"/>
    <mimic joint="l_thumb_cmc_p_joint" multiplier="1.257" offset="-1.192"/>
  </joint>
  <gazebo reference="l_thumb_mcp_joint">
    <!-- Needed for ODE to output external wrenches on joints -->
    <provideFeedback>true</provideFeedback>
    <preserveFixedJoint>true</preserveFixedJoint>
    <disableFixedJointLumping>true</disableFixedJointLumping>
  </gazebo>
  <link name="l_thumb_ip_link">
    <visual name="l_thumb_ip_link_vis">
      <origin rpy="0 0 0" xyz="0 0 0"/>
      <geometry>
        <mesh filename="package://human_description/meshes/robot_hands/m92c_hand/visual/l_thumb_ip_link.stl" scale="1e-3 1e-3 1e-3"/>
      </geometry>
      <material name="metal">
        <color rgba="0.85 0.85 0.85 1"/>
      </material>
    </visual>
    <collision name="l_thumb_ip_link_col">
      <origin rpy="0 0 0" xyz="0 0 0"/>
      <geometry>
        <mesh filename="package://human_description/meshes/robot_hands/m92c_hand/collision/l_thumb_ip_link.stl" scale="1e-3 1e-3 1e-3"/>
      </geometry>
    </collision>
    <inertial>
      <origin rpy="0.0 0.0 0.0" xyz="0.00058212386 4.4266405e-06 0.014881067"/>
      <mass value="8.7566711e-07"/>
      <inertia ixx="1.0204087e-06" ixy="-8.9029655e-11" ixz="7.0098201e-08" iyy="9.9146034e-07" iyz="1.7085357e-10" izz="3.1951504e-07"/>
    </inertial>
    <gazebo reference="l_thumb_ip_link">
      <mu1 value="0.85"/>
      <mu2 value="0.85"/>
      <maxContacts>10</maxContacts>
      <minDepth>0.0001</minDepth>
      <maxVel>0.01</maxVel>
      <selfCollide value="True"/>
    </gazebo>
  </link>
  <joint name="l_thumb_ip_joint" type="revolute">
    <parent link="l_thumb_mcp_link"/>
    <child link="l_thumb_ip_link"/>
    <origin rpy="0.0 0.0 0.0" xyz="0.0 0.0 0.02305"/>
    <axis xyz="0 1 0"/>
    <limit effort="1000.0" lower="0.0" upper="1.0000736613927508" velocity="1.0"/>
    <dynamics damping="0.05" friction="0.2"/>
    <mimic joint="l_thumb_cmc_p_joint" multiplier="1.009" offset="-0.85"/>
  </joint>
  <gazebo reference="l_thumb_ip_joint">
    <!-- Needed for ODE to output external wrenches on joints -->
    <provideFeedback>true</provideFeedback>
    <preserveFixedJoint>true</preserveFixedJoint>
    <disableFixedJointLumping>true</disableFixedJointLumping>
  </gazebo>
  <link name="l_index_mcp_link">
    <visual name="l_index_mcp_link_vis">
      <origin rpy="0 0 0" xyz="0 0 0"/>
      <geometry>
        <mesh filename="package://human_description/meshes/robot_hands/m92c_hand/visual/l_index_mcp_link.stl" scale="1e-3 1e-3 1e-3"/>
      </geometry>
      <material name="metal">
        <color rgba="0.85 0.85 0.85 1"/>
      </material>
    </visual>
    <collision name="l_index_mcp_link_col">
      <origin rpy="0 0 0" xyz="0 0 0"/>
      <geometry>
        <mesh filename="package://human_description/meshes/robot_hands/m92c_hand/collision/l_index_mcp_link.stl" scale="1e-3 1e-3 1e-3"/>
      </geometry>
    </collision>
    <inertial>
      <origin rpy="0 0 0" xyz="-0.0024318988 3.328481e-07 0.010028137"/>
      <mass value="9.3522071e-09"/>
      <inertia ixx="1.1533308e-06" ixy="-1.327215e-11" ixz="2.5106055e-08" iyy="1.1732561e-06" iyz="2.2192538e-11" izz="5.6009882e-07"/>
    </inertial>
    <gazebo reference="l_index_mcp_link">
      <mu1 value="0.85"/>
      <mu2 value="0.85"/>
      <maxContacts>10</maxContacts>
      <minDepth>0.0001</minDepth>
      <maxVel>0.01</maxVel>
      <selfCollide value="True"/>
    </gazebo>
  </link>
  <joint name="l_index_mcp_joint" type="revolute">
    <parent link="l_hand_palm_link"/>
    <child link="l_index_mcp_link"/>
    <origin rpy="-0.05236 0.0 0.0" xyz="-0.00227 0.02766 0.11556"/>
    <axis xyz="0 1 0"/>
    <limit effort="1000.0" lower="-1.7662732030182617" upper="-0.16406094968746698" velocity="1.0"/>
    <dynamics damping="0.05" friction="0.2"/>
  </joint>
  <gazebo reference="l_index_mcp_joint">
    <!-- Needed for ODE to output external wrenches on joints -->
    <provideFeedback>true</provideFeedback>
    <preserveFixedJoint>true</preserveFixedJoint>
    <disableFixedJointLumping>true</disableFixedJointLumping>
  </gazebo>
  <link name="l_index_pip_link">
    <visual name="l_index_pip_link_vis">
      <origin rpy="0 0 0" xyz="0 0 0"/>
      <geometry>
        <mesh filename="package://human_description/meshes/robot_hands/m92c_hand/visual/l_index_pip_link.stl" scale="1e-3 1e-3 1e-3"/>
      </geometry>
      <material name="metal">
        <color rgba="0.85 0.85 0.85 1"/>
      </material>
    </visual>
    <collision name="l_index_pip_link_col">
      <origin rpy="0 0 0" xyz="0 0 0"/>
      <geometry>
        <mesh filename="package://human_description/meshes/robot_hands/m92c_hand/collision/l_index_pip_link.stl" scale="1e-3 1e-3 1e-3"/>
      </geometry>
    </collision>
    <inertial>
      <origin rpy="0 0 0" xyz="-0.0021920592 2.81739e-06 0.023240314"/>
      <mass value="1.2033694e-10"/>
      <inertia ixx="2.8856205e-06" ixy="-5.3997072e-11" ixz="-2.4954332e-07" iyy="2.8726183e-06" iyz="-9.9600212e-11" izz="3.6244504e-07"/>
    </inertial>
    <gazebo reference="l_index_pip_link">
      <mu1 value="0.85"/>
      <mu2 value="0.85"/>
      <maxContacts>10</maxContacts>
      <minDepth>0.0001</minDepth>
      <maxVel>0.01</maxVel>
      <selfCollide value="True"/>
    </gazebo>
  </link>
  <joint name="l_index_pip_joint" type="revolute">
    <parent link="l_index_mcp_link"/>
    <child link="l_index_pip_link"/>
    <origin rpy="0.0 0.0 0.0" xyz="0.0 0.0 0.0325"/>
    <axis xyz="0 1 0"/>
    <limit effort="1000.0" lower="0.3385938748868999" upper="3.5831609543443586" velocity="1.0"/>
    <dynamics damping="0.05" friction="0.2"/>
    <mimic joint="l_index_mcp_joint" multiplier="0.9845" offset="0.3017"/>
  </joint>
  <gazebo reference="l_index_pip_joint">
    <!-- Needed for ODE to output external wrenches on joints -->
    <provideFeedback>true</provideFeedback>
    <preserveFixedJoint>true</preserveFixedJoint>
    <disableFixedJointLumping>true</disableFixedJointLumping>
  </gazebo>
  <link name="l_middle_mcp_link">
    <visual name="l_middle_mcp_link_vis">
      <origin rpy="0 0 0" xyz="0 0 0"/>
      <geometry>
        <mesh filename="package://human_description/meshes/robot_hands/m92c_hand/visual/l_middle_mcp_link.stl" scale="1e-3 1e-3 1e-3"/>
      </geometry>
      <material name="metal">
        <color rgba="0.85 0.85 0.85 1"/>
      </material>
    </visual>
    <collision name="l_middle_mcp_link_col">
      <origin rpy="0 0 0" xyz="0 0 0"/>
      <geometry>
        <mesh filename="package://human_description/meshes/robot_hands/m92c_hand/collision/l_middle_mcp_link.stl" scale="1e-3 1e-3 1e-3"/>
      </geometry>
    </collision>
    <inertial>
      <origin rpy="0 0 0" xyz="-0.0024318988 3.328481e-07 0.010028137"/>
      <mass value="9.3522071e-09"/>
      <inertia ixx="1.1533308e-06" ixy="-1.327215e-11" ixz="2.5106055e-08" iyy="1.1732561e-06" iyz="2.2192538e-11" izz="5.6009882e-07"/>
    </inertial>
    <gazebo reference="l_middle_mcp_link">
      <mu1 value="0.85"/>
      <mu2 value="0.85"/>
      <maxContacts>10</maxContacts>
      <minDepth>0.0001</minDepth>
      <maxVel>0.01</maxVel>
      <selfCollide value="True"/>
    </gazebo>
  </link>
  <joint name="l_middle_mcp_joint" type="revolute">
    <parent link="l_hand_palm_link"/>
    <child link="l_middle_mcp_link"/>
    <origin rpy="0.0 0.0 0.0" xyz="-0.00227 0.00675 0.1161"/>
    <axis xyz="0 1 0"/>
    <limit effort="1000.0" lower="-1.7662732030182617" upper="-0.16406094968746698" velocity="1.0"/>
    <dynamics damping="0.05" friction="0.2"/>
  </joint>
  <gazebo reference="l_middle_mcp_joint">
    <!-- Needed for ODE to output external wrenches on joints -->
    <provideFeedback>true</provideFeedback>
    <preserveFixedJoint>true</preserveFixedJoint>
    <disableFixedJointLumping>true</disableFixedJointLumping>
  </gazebo>
  <link name="l_middle_pip_link">
    <visual name="l_middle_pip_link_vis">
      <origin rpy="0 0 0" xyz="0 0 0"/>
      <geometry>
        <mesh filename="package://human_description/meshes/robot_hands/m92c_hand/visual/l_middle_pip_link.stl" scale="1e-3 1e-3 1e-3"/>
      </geometry>
      <material name="metal">
        <color rgba="0.85 0.85 0.85 1"/>
      </material>
    </visual>
    <collision name="l_middle_pip_link_col">
      <origin rpy="0 0 0" xyz="0 0 0"/>
      <geometry>
        <mesh filename="package://human_description/meshes/robot_hands/m92c_hand/collision/l_middle_pip_link.stl" scale="1e-3 1e-3 1e-3"/>
      </geometry>
    </collision>
    <inertial>
      <origin rpy="0 0 0" xyz="-0.0021920592 2.81739e-06 0.023240314"/>
      <mass value="1.2033694e-10"/>
      <inertia ixx="2.8856205e-06" ixy="-5.3997072e-11" ixz="-2.4954332e-07" iyy="2.8726183e-06" iyz="-9.9600212e-11" izz="3.6244504e-07"/>
    </inertial>
    <gazebo reference="l_middle_pip_link">
      <mu1 value="0.85"/>
      <mu2 value="0.85"/>
      <maxContacts>10</maxContacts>
      <minDepth>0.0001</minDepth>
      <maxVel>0.01</maxVel>
      <selfCollide value="True"/>
    </gazebo>
  </link>
  <joint name="l_middle_pip_joint" type="revolute">
    <parent link="l_middle_mcp_link"/>
    <child link="l_middle_pip_link"/>
    <origin rpy="0.0 0.0 0.0" xyz="0.0 0.0 0.0325"/>
    <axis xyz="0 1 0"/>
    <limit effort="1000.0" lower="0.3385938748868999" upper="3.5831609543443586" velocity="1.0"/>
    <dynamics damping="0.05" friction="0.2"/>
    <mimic joint="l_middle_mcp_joint" multiplier="0.9845" offset="0.3017"/>
  </joint>
  <gazebo reference="l_middle_pip_joint">
    <!-- Needed for ODE to output external wrenches on joints -->
    <provideFeedback>true</provideFeedback>
    <preserveFixedJoint>true</preserveFixedJoint>
    <disableFixedJointLumping>true</disableFixedJointLumping>
  </gazebo>
  <link name="l_ring_mcp_link">
    <visual name="l_ring_mcp_link_vis">
      <origin rpy="0 0 0" xyz="0 0 0"/>
      <geometry>
        <mesh filename="package://human_description/meshes/robot_hands/m92c_hand/visual/l_ring_mcp_link.stl" scale="1e-3 1e-3 1e-3"/>
      </geometry>
      <material name="metal">
        <color rgba="0.85 0.85 0.85 1"/>
      </material>
    </visual>
    <collision name="l_ring_mcp_link_col">
      <origin rpy="0 0 0" xyz="0 0 0"/>
      <geometry>
        <mesh filename="package://human_description/meshes/robot_hands/m92c_hand/collision/l_ring_mcp_link.stl" scale="1e-3 1e-3 1e-3"/>
      </geometry>
    </collision>
    <inertial>
      <origin rpy="0 0 0" xyz="-0.0024318988 3.328481e-07 0.010028137"/>
      <mass value="9.3522071e-09"/>
      <inertia ixx="1.1533308e-06" ixy="-1.327215e-11" ixz="2.5106055e-08" iyy="1.1732561e-06" iyz="2.2192538e-11" izz="5.6009882e-07"/>
    </inertial>
    <gazebo reference="l_ring_mcp_link">
      <mu1 value="0.85"/>
      <mu2 value="0.85"/>
      <maxContacts>10</maxContacts>
      <minDepth>0.0001</minDepth>
      <maxVel>0.01</maxVel>
      <selfCollide value="True"/>
    </gazebo>
  </link>
  <joint name="l_ring_mcp_joint" type="revolute">
    <parent link="l_hand_palm_link"/>
    <child link="l_ring_mcp_link"/>
    <origin rpy="0.06108 0.0 0.0" xyz="-0.00227 -0.01395 0.11541"/>
    <axis xyz="0 1 0"/>
    <limit effort="1000.0" lower="-1.7662732030182617" upper="-0.16406094968746698" velocity="1.0"/>
    <dynamics damping="0.05" friction="0.2"/>
  </joint>
  <gazebo reference="l_ring_mcp_joint">
    <!-- Needed for ODE to output external wrenches on joints -->
    <provideFeedback>true</provideFeedback>
    <preserveFixedJoint>true</preserveFixedJoint>
    <disableFixedJointLumping>true</disableFixedJointLumping>
  </gazebo>
  <link name="l_ring_pip_link">
    <visual name="l_ring_pip_link_vis">
      <origin rpy="0 0 0" xyz="0 0 0"/>
      <geometry>
        <mesh filename="package://human_description/meshes/robot_hands/m92c_hand/visual/l_ring_pip_link.stl" scale="1e-3 1e-3 1e-3"/>
      </geometry>
      <material name="metal">
        <color rgba="0.85 0.85 0.85 1"/>
      </material>
    </visual>
    <collision name="l_ring_pip_link_col">
      <origin rpy="0 0 0" xyz="0 0 0"/>
      <geometry>
        <mesh filename="package://human_description/meshes/robot_hands/m92c_hand/collision/l_ring_pip_link.stl" scale="1e-3 1e-3 1e-3"/>
      </geometry>
    </collision>
    <inertial>
      <origin rpy="0 0 0" xyz="-0.0021920592 2.81739e-06 0.023240314"/>
      <mass value="1.2033694e-10"/>
      <inertia ixx="2.8856205e-06" ixy="-5.3997072e-11" ixz="-2.4954332e-07" iyy="2.8726183e-06" iyz="-9.9600212e-11" izz="3.6244504e-07"/>
    </inertial>
    <gazebo reference="l_ring_pip_link">
      <mu1 value="0.85"/>
      <mu2 value="0.85"/>
      <maxContacts>10</maxContacts>
      <minDepth>0.0001</minDepth>
      <maxVel>0.01</maxVel>
      <selfCollide value="True"/>
    </gazebo>
  </link>
  <joint name="l_ring_pip_joint" type="revolute">
    <parent link="l_ring_mcp_link"/>
    <child link="l_ring_pip_link"/>
    <origin rpy="0.0 0.0 0.0" xyz="0.0 0.0 0.0325"/>
    <axis xyz="0 1 0"/>
    <limit effort="1000.0" lower="0.3385938748868999" upper="3.5831609543443586" velocity="1.0"/>
    <dynamics damping="0.05" friction="0.2"/>
    <mimic joint="l_ring_mcp_joint" multiplier="0.9845" offset="0.3017"/>
  </joint>
  <gazebo reference="l_ring_pip_joint">
    <!-- Needed for ODE to output external wrenches on joints -->
    <provideFeedback>true</provideFeedback>
    <preserveFixedJoint>true</preserveFixedJoint>
    <disableFixedJointLumping>true</disableFixedJointLumping>
  </gazebo>
  <link name="l_pinky_mcp_link">
    <visual name="l_pinky_mcp_link_vis">
      <origin rpy="0 0 0" xyz="0 0 0"/>
      <geometry>
        <mesh filename="package://human_description/meshes/robot_hands/m92c_hand/visual/l_pinky_mcp_link.stl" scale="1e-3 1e-3 1e-3"/>
      </geometry>
      <material name="metal">
        <color rgba="0.85 0.85 0.85 1"/>
      </material>
    </visual>
    <collision name="l_pinky_mcp_link_col">
      <origin rpy="0 0 0" xyz="0 0 0"/>
      <geometry>
        <mesh filename="package://human_description/meshes/robot_hands/m92c_hand/collision/l_pinky_mcp_link.stl" scale="1e-3 1e-3 1e-3"/>
      </geometry>
    </collision>
    <inertial>
      <origin rpy="0 0 0" xyz="-0.0024318988 3.328481e-07 0.010028137"/>
      <mass value="9.3522071e-09"/>
      <inertia ixx="1.1533308e-06" ixy="-1.327215e-11" ixz="2.5106055e-08" iyy="1.1732561e-06" iyz="2.2192538e-11" izz="5.6009882e-07"/>
    </inertial>
    <gazebo reference="l_pinky_mcp_link">
      <mu1 value="0.85"/>
      <mu2 value="0.85"/>
      <maxContacts>10</maxContacts>
      <minDepth>0.0001</minDepth>
      <maxVel>0.01</maxVel>
      <selfCollide value="True"/>
    </gazebo>
  </link>
  <joint name="l_pinky_mcp_joint" type="revolute">
    <parent link="l_hand_palm_link"/>
    <child link="l_pinky_mcp_link"/>
    <origin rpy="0.12211 0.0 0.0" xyz="-0.00227 -0.03431 0.11361"/>
    <axis xyz="0 1 0"/>
    <limit effort="1000.0" lower="-1.7662732030182617" upper="-0.16406094968746698" velocity="1.0"/>
    <dynamics damping="0.05" friction="0.2"/>
  </joint>
  <gazebo reference="l_pinky_mcp_joint">
    <!-- Needed for ODE to output external wrenches on joints -->
    <provideFeedback>true</provideFeedback>
    <preserveFixedJoint>true</preserveFixedJoint>
    <disableFixedJointLumping>true</disableFixedJointLumping>
  </gazebo>
  <link name="l_pinky_pip_link">
    <visual name="l_pinky_pip_link_vis">
      <origin rpy="0 0 0" xyz="0 0 0"/>
      <geometry>
        <mesh filename="package://human_description/meshes/robot_hands/m92c_hand/visual/l_pinky_pip_link.stl" scale="1e-3 1e-3 1e-3"/>
      </geometry>
      <material name="metal">
        <color rgba="0.85 0.85 0.85 1"/>
      </material>
    </visual>
    <collision name="l_pinky_pip_link_col">
      <origin rpy="0 0 0" xyz="0 0 0"/>
      <geometry>
        <mesh filename="package://human_description/meshes/robot_hands/m92c_hand/collision/l_pinky_pip_link.stl" scale="1e-3 1e-3 1e-3"/>
      </geometry>
    </collision>
    <inertial>
      <origin rpy="0 0 0" xyz="-0.0021920592 2.81739e-06 0.023240314"/>
      <mass value="1.2033694e-10"/>
      <inertia ixx="2.8856205e-06" ixy="-5.3997072e-11" ixz="-2.4954332e-07" iyy="2.8726183e-06" iyz="-9.9600212e-11" izz="3.6244504e-07"/>
    </inertial>
    <gazebo reference="l_pinky_pip_link">
      <mu1 value="0.85"/>
      <mu2 value="0.85"/>
      <maxContacts>10</maxContacts>
      <minDepth>0.0001</minDepth>
      <maxVel>0.01</maxVel>
      <selfCollide value="True"/>
    </gazebo>
  </link>
  <joint name="l_pinky_pip_joint" type="revolute">
    <parent link="l_pinky_mcp_link"/>
    <child link="l_pinky_pip_link"/>
    <origin rpy="0.0 0.0 0.0" xyz="0.0 0.0 0.0325"/>
    <axis xyz="0 1 0"/>
    <limit effort="1000.0" lower="0.3385938748868999" upper="3.5831609543443586" velocity="1.0"/>
    <dynamics damping="0.05" friction="0.2"/>
    <mimic joint="l_pinky_mcp_joint" multiplier="0.9845" offset="0.3017"/>
  </joint>
  <gazebo reference="l_pinky_pip_joint">
    <!-- Needed for ODE to output external wrenches on joints -->
    <provideFeedback>true</provideFeedback>
    <preserveFixedJoint>true</preserveFixedJoint>
    <disableFixedJointLumping>true</disableFixedJointLumping>
  </gazebo>
  <ros2_control name="l_hand_system" type="system">
    <hardware>
      <plugin>ign_ros2_control/IgnitionSystem</plugin>
    </hardware>
    <joint name="l_thumb_cmc_y_joint">
      <param name="initial_position">0.0</param>
      <command_interface name="position"/>
      <state_interface name="position">
        <param name="initial_value">0.0</param>
      </state_interface>
      <state_interface name="velocity"/>
      <state_interface name="effort"/>
    </joint>
    <transmission name="l_thumb_cmc_y_transmission">
      <plugin>transmission_interface/SimpleTransmission</plugin>
      <joint name="l_thumb_cmc_y_joint" role="joint1">
        <mechanical_reduction>1.0</mechanical_reduction>
        <offset>0</offset>
      </joint>
      <actuator name="l_thumb_cmc_y_actuator" role="actuator1">
        <mechanical_reduction>1.0</mechanical_reduction>
        <offset>0</offset>
      </actuator>
    </transmission>
    <joint name="l_thumb_cmc_p_joint">
      <param name="initial_position">0.0</param>
      <command_interface name="position"/>
      <state_interface name="position">
        <param name="initial_value">0.0</param>
      </state_interface>
      <state_interface name="velocity"/>
      <state_interface name="effort"/>
    </joint>
    <transmission name="l_thumb_cmc_p_transmission">
      <plugin>transmission_interface/SimpleTransmission</plugin>
      <joint name="l_thumb_cmc_p_joint" role="joint1">
        <mechanical_reduction>1.0</mechanical_reduction>
        <offset>0</offset>
      </joint>
      <actuator name="l_thumb_cmc_p_actuator" role="actuator1">
        <mechanical_reduction>1.0</mechanical_reduction>
        <offset>0</offset>
      </actuator>
    </transmission>
    <joint name="l_thumb_mcp_joint">
      <param name="initial_position">0.0</param>
      <param name="mimic">l_thumb_cmc_p_joint</param>
      <param name="multiplier">1</param>
      <command_interface name="position"/>
      <state_interface name="position">
        <param name="initial_value">0.0</param>
      </state_interface>
      <state_interface name="velocity"/>
      <state_interface name="effort"/>
    </joint>
    <joint name="l_thumb_ip_joint">
      <param name="initial_position">0.0</param>
      <param name="mimic">l_thumb_cmc_p_joint</param>
      <param name="multiplier">1</param>
      <command_interface name="position"/>
      <state_interface name="position">
        <param name="initial_value">0.0</param>
      </state_interface>
      <state_interface name="velocity"/>
      <state_interface name="effort"/>
    </joint>
    <joint name="l_index_mcp_joint">
      <param name="initial_position">0.0</param>
      <command_interface name="position"/>
      <state_interface name="position">
        <param name="initial_value">0.0</param>
      </state_interface>
      <state_interface name="velocity"/>
      <state_interface name="effort"/>
    </joint>
    <transmission name="l_index_mcp_transmission">
      <plugin>transmission_interface/SimpleTransmission</plugin>
      <joint name="l_index_mcp_joint" role="joint1">
        <mechanical_reduction>1.0</mechanical_reduction>
        <offset>0</offset>
      </joint>
      <actuator name="l_index_mcp_actuator" role="actuator1">
        <mechanical_reduction>1.0</mechanical_reduction>
        <offset>0</offset>
      </actuator>
    </transmission>
    <joint name="l_index_pip_joint">
      <param name="initial_position">0.0</param>
      <param name="mimic">l_index_mcp_joint</param>
      <param name="multiplier">1</param>
      <command_interface name="position"/>
      <state_interface name="position">
        <param name="initial_value">0.0</param>
      </state_interface>
      <state_interface name="velocity"/>
      <state_interface name="effort"/>
    </joint>
    <joint name="l_middle_mcp_joint">
      <param name="initial_position">0.0</param>
      <command_interface name="position"/>
      <state_interface name="position">
        <param name="initial_value">0.0</param>
      </state_interface>
      <state_interface name="velocity"/>
      <state_interface name="effort"/>
    </joint>
    <transmission name="l_middle_mcp_transmission">
      <plugin>transmission_interface/SimpleTransmission</plugin>
      <joint name="l_middle_mcp_joint" role="joint1">
        <mechanical_reduction>1.0</mechanical_reduction>
        <offset>0</offset>
      </joint>
      <actuator name="l_middle_mcp_actuator" role="actuator1">
        <mechanical_reduction>1.0</mechanical_reduction>
        <offset>0</offset>
      </actuator>
    </transmission>
    <joint name="l_middle_pip_joint">
      <param name="initial_position">0.0</param>
      <param name="mimic">l_middle_mcp_joint</param>
      <param name="multiplier">1</param>
      <command_interface name="position"/>
      <state_interface name="position">
        <param name="initial_value">0.0</param>
      </state_interface>
      <state_interface name="velocity"/>
      <state_interface name="effort"/>
    </joint>
    <joint name="l_pinky_mcp_joint">
      <param name="initial_position">0.0</param>
      <command_interface name="position"/>
      <state_interface name="position">
        <param name="initial_value">0.0</param>
      </state_interface>
      <state_interface name="velocity"/>
      <state_interface name="effort"/>
    </joint>
    <transmission name="l_pinky_mcp_transmission">
      <plugin>transmission_interface/SimpleTransmission</plugin>
      <joint name="l_pinky_mcp_joint" role="joint1">
        <mechanical_reduction>1.0</mechanical_reduction>
        <offset>0</offset>
      </joint>
      <actuator name="l_pinky_mcp_actuator" role="actuator1">
        <mechanical_reduction>1.0</mechanical_reduction>
        <offset>0</offset>
      </actuator>
    </transmission>
    <joint name="l_pinky_pip_joint">
      <param name="initial_position">0.0</param>
      <param name="mimic">l_pinky_mcp_joint</param>
      <param name="multiplier">1</param>
      <command_interface name="position"/>
      <state_interface name="position">
        <param name="initial_value">0.0</param>
      </state_interface>
      <state_interface name="velocity"/>
      <state_interface name="effort"/>
    </joint>
    <joint name="l_ring_mcp_joint">
      <param name="initial_position">0.0</param>
      <command_interface name="position"/>
      <state_interface name="position">
        <param name="initial_value">0.0</param>
      </state_interface>
      <state_interface name="velocity"/>
      <state_interface name="effort"/>
    </joint>
    <transmission name="l_ring_mcp_transmission">
      <plugin>transmission_interface/SimpleTransmission</plugin>
      <joint name="l_ring_mcp_joint" role="joint1">
        <mechanical_reduction>1.0</mechanical_reduction>
        <offset>0</offset>
      </joint>
      <actuator name="l_ring_mcp_actuator" role="actuator1">
        <mechanical_reduction>1.0</mechanical_reduction>
        <offset>0</offset>
      </actuator>
    </transmission>
    <joint name="l_ring_pip_joint">
      <param name="initial_position">0.0</param>
      <param name="mimic">l_ring_mcp_joint</param>
      <param name="multiplier">1</param>
      <command_interface name="position"/>
      <state_interface name="position">
        <param name="initial_value">0.0</param>
      </state_interface>
      <state_interface name="velocity"/>
      <state_interface name="effort"/>
    </joint>
  </ros2_control>
  <link name="r_hand_palm_link">
    <visual name="r_hand_palm_link_vis">
      <origin rpy="0 0 0" xyz="0 0 0"/>
      <geometry>
        <sphere radius="0.005"/>
      </geometry>
      <material name="yellow">
        <color rgba="0.9 1.0 0.0 1.0"/>
      </material>
    </visual>
    <collision name="r_hand_palm_link_col">
      <origin rpy="0 0 0" xyz="0 0 0"/>
      <geometry>
        <sphere radius="0.005"/>
      </geometry>
    </collision>
    <inertial>
      <origin rpy="0. 0. 0." xyz="0. 0. 0."/>
      <mass value="1e-05"/>
      <inertia ixx="8.333333333333334e-11" ixy="0" ixz="0" iyy="8.333333333333334e-11" iyz="0" izz="1.25e-10"/>
    </inertial>
  </link>
  <gazebo reference="r_hand_palm_link">
    <mu1 value="0.85"/>
    <mu2 value="0.85"/>
    <maxContacts>10</maxContacts>
    <minDepth>0.0001</minDepth>
    <maxVel>0.01</maxVel>
    <selfCollide value="True"/>
  </gazebo>
  <joint name="r_hand_palm_fixed_joint" type="fixed">
    <parent link="r_arm7_wrist_p_link"/>
    <child link="r_hand_palm_link"/>
    <origin rpy="-3.1415926 0.0 1.5707963" xyz="0.0 -0.0099 -0.0525"/>
    <axis xyz="0 0 1"/>
  </joint>
  <link name="r_thumb_cmc_y_link">
    <visual name="r_thumb_cmc_y_link_vis">
      <origin rpy="0 0 0" xyz="0 0 0"/>
      <geometry>
        <mesh filename="package://human_description/meshes/robot_hands/m92c_hand/visual/r_thumb_cmc_y_link.stl" scale="1e-3 1e-3 1e-3"/>
      </geometry>
      <material name="metal">
        <color rgba="0.85 0.85 0.85 1"/>
      </material>
    </visual>
    <collision name="r_thumb_cmc_y_link_col">
      <origin rpy="0 0 0" xyz="0 0 0"/>
      <geometry>
        <mesh filename="package://human_description/meshes/robot_hands/m92c_hand/collision/r_thumb_cmc_y_link.stl" scale="1e-3 1e-3 1e-3"/>
      </geometry>
    </collision>
    <inertial>
      <origin rpy="0.0 0.0 0.0" xyz="0.0043445795 0.00073516028 0.00092114437"/>
      <mass value="4.5684539e-08"/>
      <inertia ixx="1.2807232e-07" ixy="2.6031726e-08" ixz="-9.2990531e-09" iyy="2.0994928e-07" iyz="2.3599758e-09" izz="1.8089779e-07"/>
    </inertial>
    <gazebo reference="r_thumb_cmc_y_link">
      <mu1 value="0.85"/>
      <mu2 value="0.85"/>
      <maxContacts>10</maxContacts>
      <minDepth>0.0001</minDepth>
      <maxVel>0.01</maxVel>
      <selfCollide value="True"/>
    </gazebo>
  </link>
  <joint name="r_thumb_cmc_y_joint" type="revolute">
    <parent link="r_hand_palm_link"/>
    <child link="r_thumb_cmc_y_link"/>
    <origin rpy="0.0 0.0 0.0" xyz="0.021 0.02025 0.03885"/>
    <axis xyz="0 0 1"/>
    <limit effort="1000.0" lower="0.19198621771937624" upper="1.5254177662430441" velocity="1.0"/>
    <dynamics damping="0.05" friction="0.2"/>
  </joint>
  <gazebo reference="r_thumb_cmc_y_joint">
    <!-- Needed for ODE to output external wrenches on joints -->
    <provideFeedback>true</provideFeedback>
    <preserveFixedJoint>true</preserveFixedJoint>
    <disableFixedJointLumping>true</disableFixedJointLumping>
  </gazebo>
  <link name="r_thumb_cmc_p_link">
    <visual name="r_thumb_cmc_p_link_vis">
      <origin rpy="0 0 0" xyz="0 0 0"/>
      <geometry>
        <mesh filename="package://human_description/meshes/robot_hands/m92c_hand/visual/r_thumb_cmc_p_link.stl" scale="1e-3 1e-3 1e-3"/>
      </geometry>
      <material name="metal">
        <color rgba="0.85 0.85 0.85 1"/>
      </material>
    </visual>
    <collision name="r_thumb_cmc_p_link_col">
      <origin rpy="0 0 0" xyz="0 0 0"/>
      <geometry>
        <mesh filename="package://human_description/meshes/robot_hands/m92c_hand/collision/r_thumb_cmc_p_link.stl" scale="1e-3 1e-3 1e-3"/>
      </geometry>
    </collision>
    <inertial>
      <origin rpy="0.0 0.0 0.0" xyz="0.0037146239 0.0 0.025714396"/>
      <mass value="4.8359764e-07"/>
      <inertia ixx="1.1564874e-05" ixy="0.0" ixz="9.8057604e-07" iyy="1.2950704e-05" iyz="0.0" izz="4.7469757e-06"/>
    </inertial>
    <gazebo reference="r_thumb_cmc_p_link">
      <mu1 value="0.85"/>
      <mu2 value="0.85"/>
      <maxContacts>10</maxContacts>
      <minDepth>0.0001</minDepth>
      <maxVel>0.01</maxVel>
      <selfCollide value="True"/>
    </gazebo>
  </link>
  <joint name="r_thumb_cmc_p_joint" type="revolute">
    <parent link="r_thumb_cmc_y_link"/>
    <child link="r_thumb_cmc_p_link"/>
    <origin rpy="0.0 0.0 0.0" xyz="0.011 0.0 0.0"/>
    <axis xyz="0 1 0"/>
    <limit effort="1000.0" lower="0.31590459461097364" upper="0.9581857593448869" velocity="1.0"/>
    <dynamics damping="0.05" friction="0.2"/>
  </joint>
  <gazebo reference="r_thumb_cmc_p_joint">
    <!-- Needed for ODE to output external wrenches on joints -->
    <provideFeedback>true</provideFeedback>
    <preserveFixedJoint>true</preserveFixedJoint>
    <disableFixedJointLumping>true</disableFixedJointLumping>
  </gazebo>
  <link name="r_thumb_mcp_link">
    <visual name="r_thumb_mcp_link_vis">
      <origin rpy="0 0 0" xyz="0 0 0"/>
      <geometry>
        <mesh filename="package://human_description/meshes/robot_hands/m92c_hand/visual/r_thumb_mcp_link.stl" scale="1e-3 1e-3 1e-3"/>
      </geometry>
      <material name="metal">
        <color rgba="0.85 0.85 0.85 1"/>
      </material>
    </visual>
    <collision name="r_thumb_mcp_link_col">
      <origin rpy="0 0 0" xyz="0 0 0"/>
      <geometry>
        <mesh filename="package://human_description/meshes/robot_hands/m92c_hand/collision/r_thumb_mcp_link.stl" scale="1e-3 1e-3 1e-3"/>
      </geometry>
    </collision>
    <inertial>
      <origin rpy="0.0 0.0 0.0" xyz="0.0034051517 0 0.010727105"/>
      <mass value="7.5745038e-08"/>
      <inertia ixx="6.6016669e-07" ixy="0.0" ixz="-1.9329706e-08" iyy="6.3533864e-07" iyz="0.0" izz="6.546447e-07"/>
    </inertial>
    <gazebo reference="r_thumb_mcp_link">
      <mu1 value="0.85"/>
      <mu2 value="0.85"/>
      <maxContacts>10</maxContacts>
      <minDepth>0.0001</minDepth>
      <maxVel>0.01</maxVel>
      <selfCollide value="True"/>
    </gazebo>
  </link>
  <joint name="r_thumb_mcp_joint" type="revolute">
    <parent link="r_thumb_cmc_p_link"/>
    <child link="r_thumb_mcp_link"/>
    <origin rpy="0.0 0.0 0.0" xyz="0.0 0.0 0.05572"/>
    <axis xyz="0 1 0"/>
    <limit effort="1000.0" lower="0.0" upper="1.0000736613927508" velocity="1.0"/>
    <dynamics damping="0.05" friction="0.2"/>
    <mimic joint="r_thumb_cmc_p_joint" multiplier="1.257" offset="-1.192"/>
  </joint>
  <gazebo reference="r_thumb_mcp_joint">
    <!-- Needed for ODE to output external wrenches on joints -->
    <provideFeedback>true</provideFeedback>
    <preserveFixedJoint>true</preserveFixedJoint>
    <disableFixedJointLumping>true</disableFixedJointLumping>
  </gazebo>
  <link name="r_thumb_ip_link">
    <visual name="r_thumb_ip_link_vis">
      <origin rpy="0 0 0" xyz="0 0 0"/>
      <geometry>
        <mesh filename="package://human_description/meshes/robot_hands/m92c_hand/visual/r_thumb_ip_link.stl" scale="1e-3 1e-3 1e-3"/>
      </geometry>
      <material name="metal">
        <color rgba="0.85 0.85 0.85 1"/>
      </material>
    </visual>
    <collision name="r_thumb_ip_link_col">
      <origin rpy="0 0 0" xyz="0 0 0"/>
      <geometry>
        <mesh filename="package://human_description/meshes/robot_hands/m92c_hand/collision/r_thumb_ip_link.stl" scale="1e-3 1e-3 1e-3"/>
      </geometry>
    </collision>
    <inertial>
      <origin rpy="0.0 0.0 0.0" xyz="0.00058212386 4.4266405e-06 0.014881067"/>
      <mass value="8.7566711e-07"/>
      <inertia ixx="1.0204087e-06" ixy="-8.9029655e-11" ixz="7.0098201e-08" iyy="9.9146034e-07" iyz="1.7085357e-10" izz="3.1951504e-07"/>
    </inertial>
    <gazebo reference="r_thumb_ip_link">
      <mu1 value="0.85"/>
      <mu2 value="0.85"/>
      <maxContacts>10</maxContacts>
      <minDepth>0.0001</minDepth>
      <maxVel>0.01</maxVel>
      <selfCollide value="True"/>
    </gazebo>
  </link>
  <joint name="r_thumb_ip_joint" type="revolute">
    <parent link="r_thumb_mcp_link"/>
    <child link="r_thumb_ip_link"/>
    <origin rpy="0.0 0.0 0.0" xyz="0.0 0.0 0.02305"/>
    <axis xyz="0 1 0"/>
    <limit effort="1000.0" lower="0.0" upper="1.0000736613927508" velocity="1.0"/>
    <dynamics damping="0.05" friction="0.2"/>
    <mimic joint="r_thumb_cmc_p_joint" multiplier="1.009" offset="-0.85"/>
  </joint>
  <gazebo reference="r_thumb_ip_joint">
    <!-- Needed for ODE to output external wrenches on joints -->
    <provideFeedback>true</provideFeedback>
    <preserveFixedJoint>true</preserveFixedJoint>
    <disableFixedJointLumping>true</disableFixedJointLumping>
  </gazebo>
  <link name="r_index_mcp_link">
    <visual name="r_index_mcp_link_vis">
      <origin rpy="0 0 0" xyz="0 0 0"/>
      <geometry>
        <mesh filename="package://human_description/meshes/robot_hands/m92c_hand/visual/r_index_mcp_link.stl" scale="1e-3 1e-3 1e-3"/>
      </geometry>
      <material name="metal">
        <color rgba="0.85 0.85 0.85 1"/>
      </material>
    </visual>
    <collision name="r_index_mcp_link_col">
      <origin rpy="0 0 0" xyz="0 0 0"/>
      <geometry>
        <mesh filename="package://human_description/meshes/robot_hands/m92c_hand/collision/r_index_mcp_link.stl" scale="1e-3 1e-3 1e-3"/>
      </geometry>
    </collision>
    <inertial>
      <origin rpy="0 0 0" xyz="-0.0024318988 3.328481e-07 0.010028137"/>
      <mass value="9.3522071e-09"/>
      <inertia ixx="1.1533308e-06" ixy="-1.327215e-11" ixz="2.5106055e-08" iyy="1.1732561e-06" iyz="2.2192538e-11" izz="5.6009882e-07"/>
    </inertial>
    <gazebo reference="r_index_mcp_link">
      <mu1 value="0.85"/>
      <mu2 value="0.85"/>
      <maxContacts>10</maxContacts>
      <minDepth>0.0001</minDepth>
      <maxVel>0.01</maxVel>
      <selfCollide value="True"/>
    </gazebo>
  </link>
  <joint name="r_index_mcp_joint" type="revolute">
    <parent link="r_hand_palm_link"/>
    <child link="r_index_mcp_link"/>
    <origin rpy="-0.05236 0.0 0.0" xyz="0.00227 0.02766 0.11556"/>
    <axis xyz="0 1 0"/>
    <limit effort="1000.0" lower="0.16406094968746698" upper="1.7662732030182617" velocity="1.0"/>
    <dynamics damping="0.05" friction="0.2"/>
  </joint>
  <gazebo reference="r_index_mcp_joint">
    <!-- Needed for ODE to output external wrenches on joints -->
    <provideFeedback>true</provideFeedback>
    <preserveFixedJoint>true</preserveFixedJoint>
    <disableFixedJointLumping>true</disableFixedJointLumping>
  </gazebo>
  <link name="r_index_pip_link">
    <visual name="r_index_pip_link_vis">
      <origin rpy="0 0 0" xyz="0 0 0"/>
      <geometry>
        <mesh filename="package://human_description/meshes/robot_hands/m92c_hand/visual/r_index_pip_link.stl" scale="1e-3 1e-3 1e-3"/>
      </geometry>
      <material name="metal">
        <color rgba="0.85 0.85 0.85 1"/>
      </material>
    </visual>
    <collision name="r_index_pip_link_col">
      <origin rpy="0 0 0" xyz="0 0 0"/>
      <geometry>
        <mesh filename="package://human_description/meshes/robot_hands/m92c_hand/collision/r_index_pip_link.stl" scale="1e-3 1e-3 1e-3"/>
      </geometry>
    </collision>
    <inertial>
      <origin rpy="0 0 0" xyz="-0.0021920592 2.81739e-06 0.023240314"/>
      <mass value="1.2033694e-10"/>
      <inertia ixx="2.8856205e-06" ixy="-5.3997072e-11" ixz="-2.4954332e-07" iyy="2.8726183e-06" iyz="-9.9600212e-11" izz="3.6244504e-07"/>
    </inertial>
    <gazebo reference="r_index_pip_link">
      <mu1 value="0.85"/>
      <mu2 value="0.85"/>
      <maxContacts>10</maxContacts>
      <minDepth>0.0001</minDepth>
      <maxVel>0.01</maxVel>
      <selfCollide value="True"/>
    </gazebo>
  </link>
  <joint name="r_index_pip_joint" type="revolute">
    <parent link="r_index_mcp_link"/>
    <child link="r_index_pip_link"/>
    <origin rpy="0.0 0.0 0.0" xyz="0.0 0.0 0.0325"/>
    <axis xyz="0 1 0"/>
    <limit effort="1000.0" lower="0.3385938748868999" upper="3.5831609543443586" velocity="1.0"/>
    <dynamics damping="0.05" friction="0.2"/>
    <mimic joint="r_index_mcp_joint" multiplier="0.9845" offset="-0.3017"/>
  </joint>
  <gazebo reference="r_index_pip_joint">
    <!-- Needed for ODE to output external wrenches on joints -->
    <provideFeedback>true</provideFeedback>
    <preserveFixedJoint>true</preserveFixedJoint>
    <disableFixedJointLumping>true</disableFixedJointLumping>
  </gazebo>
  <link name="r_middle_mcp_link">
    <visual name="r_middle_mcp_link_vis">
      <origin rpy="0 0 0" xyz="0 0 0"/>
      <geometry>
        <mesh filename="package://human_description/meshes/robot_hands/m92c_hand/visual/r_middle_mcp_link.stl" scale="1e-3 1e-3 1e-3"/>
      </geometry>
      <material name="metal">
        <color rgba="0.85 0.85 0.85 1"/>
      </material>
    </visual>
    <collision name="r_middle_mcp_link_col">
      <origin rpy="0 0 0" xyz="0 0 0"/>
      <geometry>
        <mesh filename="package://human_description/meshes/robot_hands/m92c_hand/collision/r_middle_mcp_link.stl" scale="1e-3 1e-3 1e-3"/>
      </geometry>
    </collision>
    <inertial>
      <origin rpy="0 0 0" xyz="-0.0024318988 3.328481e-07 0.010028137"/>
      <mass value="9.3522071e-09"/>
      <inertia ixx="1.1533308e-06" ixy="-1.327215e-11" ixz="2.5106055e-08" iyy="1.1732561e-06" iyz="2.2192538e-11" izz="5.6009882e-07"/>
    </inertial>
    <gazebo reference="r_middle_mcp_link">
      <mu1 value="0.85"/>
      <mu2 value="0.85"/>
      <maxContacts>10</maxContacts>
      <minDepth>0.0001</minDepth>
      <maxVel>0.01</maxVel>
      <selfCollide value="True"/>
    </gazebo>
  </link>
  <joint name="r_middle_mcp_joint" type="revolute">
    <parent link="r_hand_palm_link"/>
    <child link="r_middle_mcp_link"/>
    <origin rpy="0.0 0.0 0.0" xyz="0.00227 0.00675 0.1161"/>
    <axis xyz="0 1 0"/>
    <limit effort="1000.0" lower="0.16406094968746698" upper="1.7662732030182617" velocity="1.0"/>
    <dynamics damping="0.05" friction="0.2"/>
  </joint>
  <gazebo reference="r_middle_mcp_joint">
    <!-- Needed for ODE to output external wrenches on joints -->
    <provideFeedback>true</provideFeedback>
    <preserveFixedJoint>true</preserveFixedJoint>
    <disableFixedJointLumping>true</disableFixedJointLumping>
  </gazebo>
  <link name="r_middle_pip_link">
    <visual name="r_middle_pip_link_vis">
      <origin rpy="0 0 0" xyz="0 0 0"/>
      <geometry>
        <mesh filename="package://human_description/meshes/robot_hands/m92c_hand/visual/r_middle_pip_link.stl" scale="1e-3 1e-3 1e-3"/>
      </geometry>
      <material name="metal">
        <color rgba="0.85 0.85 0.85 1"/>
      </material>
    </visual>
    <collision name="r_middle_pip_link_col">
      <origin rpy="0 0 0" xyz="0 0 0"/>
      <geometry>
        <mesh filename="package://human_description/meshes/robot_hands/m92c_hand/collision/r_middle_pip_link.stl" scale="1e-3 1e-3 1e-3"/>
      </geometry>
    </collision>
    <inertial>
      <origin rpy="0 0 0" xyz="-0.0021920592 2.81739e-06 0.023240314"/>
      <mass value="1.2033694e-10"/>
      <inertia ixx="2.8856205e-06" ixy="-5.3997072e-11" ixz="-2.4954332e-07" iyy="2.8726183e-06" iyz="-9.9600212e-11" izz="3.6244504e-07"/>
    </inertial>
    <gazebo reference="r_middle_pip_link">
      <mu1 value="0.85"/>
      <mu2 value="0.85"/>
      <maxContacts>10</maxContacts>
      <minDepth>0.0001</minDepth>
      <maxVel>0.01</maxVel>
      <selfCollide value="True"/>
    </gazebo>
  </link>
  <joint name="r_middle_pip_joint" type="revolute">
    <parent link="r_middle_mcp_link"/>
    <child link="r_middle_pip_link"/>
    <origin rpy="0.0 0.0 0.0" xyz="0.0 0.0 0.0325"/>
    <axis xyz="0 1 0"/>
    <limit effort="1000.0" lower="0.3385938748868999" upper="3.5831609543443586" velocity="1.0"/>
    <dynamics damping="0.05" friction="0.2"/>
    <mimic joint="r_middle_mcp_joint" multiplier="0.9845" offset="-0.3017"/>
  </joint>
  <gazebo reference="r_middle_pip_joint">
    <!-- Needed for ODE to output external wrenches on joints -->
    <provideFeedback>true</provideFeedback>
    <preserveFixedJoint>true</preserveFixedJoint>
    <disableFixedJointLumping>true</disableFixedJointLumping>
  </gazebo>
  <link name="r_ring_mcp_link">
    <visual name="r_ring_mcp_link_vis">
      <origin rpy="0 0 0" xyz="0 0 0"/>
      <geometry>
        <mesh filename="package://human_description/meshes/robot_hands/m92c_hand/visual/r_ring_mcp_link.stl" scale="1e-3 1e-3 1e-3"/>
      </geometry>
      <material name="metal">
        <color rgba="0.85 0.85 0.85 1"/>
      </material>
    </visual>
    <collision name="r_ring_mcp_link_col">
      <origin rpy="0 0 0" xyz="0 0 0"/>
      <geometry>
        <mesh filename="package://human_description/meshes/robot_hands/m92c_hand/collision/r_ring_mcp_link.stl" scale="1e-3 1e-3 1e-3"/>
      </geometry>
    </collision>
    <inertial>
      <origin rpy="0 0 0" xyz="-0.0024318988 3.328481e-07 0.010028137"/>
      <mass value="9.3522071e-09"/>
      <inertia ixx="1.1533308e-06" ixy="-1.327215e-11" ixz="2.5106055e-08" iyy="1.1732561e-06" iyz="2.2192538e-11" izz="5.6009882e-07"/>
    </inertial>
    <gazebo reference="r_ring_mcp_link">
      <mu1 value="0.85"/>
      <mu2 value="0.85"/>
      <maxContacts>10</maxContacts>
      <minDepth>0.0001</minDepth>
      <maxVel>0.01</maxVel>
      <selfCollide value="True"/>
    </gazebo>
  </link>
  <joint name="r_ring_mcp_joint" type="revolute">
    <parent link="r_hand_palm_link"/>
    <child link="r_ring_mcp_link"/>
    <origin rpy="0.06108 0.0 0.0" xyz="0.00227 -0.01395 0.11541"/>
    <axis xyz="0 1 0"/>
    <limit effort="1000.0" lower="0.16406094968746698" upper="1.7662732030182617" velocity="1.0"/>
    <dynamics damping="0.05" friction="0.2"/>
  </joint>
  <gazebo reference="r_ring_mcp_joint">
    <!-- Needed for ODE to output external wrenches on joints -->
    <provideFeedback>true</provideFeedback>
    <preserveFixedJoint>true</preserveFixedJoint>
    <disableFixedJointLumping>true</disableFixedJointLumping>
  </gazebo>
  <link name="r_ring_pip_link">
    <visual name="r_ring_pip_link_vis">
      <origin rpy="0 0 0" xyz="0 0 0"/>
      <geometry>
        <mesh filename="package://human_description/meshes/robot_hands/m92c_hand/visual/r_ring_pip_link.stl" scale="1e-3 1e-3 1e-3"/>
      </geometry>
      <material name="metal">
        <color rgba="0.85 0.85 0.85 1"/>
      </material>
    </visual>
    <collision name="r_ring_pip_link_col">
      <origin rpy="0 0 0" xyz="0 0 0"/>
      <geometry>
        <mesh filename="package://human_description/meshes/robot_hands/m92c_hand/collision/r_ring_pip_link.stl" scale="1e-3 1e-3 1e-3"/>
      </geometry>
    </collision>
    <inertial>
      <origin rpy="0 0 0" xyz="-0.0021920592 2.81739e-06 0.023240314"/>
      <mass value="1.2033694e-10"/>
      <inertia ixx="2.8856205e-06" ixy="-5.3997072e-11" ixz="-2.4954332e-07" iyy="2.8726183e-06" iyz="-9.9600212e-11" izz="3.6244504e-07"/>
    </inertial>
    <gazebo reference="r_ring_pip_link">
      <mu1 value="0.85"/>
      <mu2 value="0.85"/>
      <maxContacts>10</maxContacts>
      <minDepth>0.0001</minDepth>
      <maxVel>0.01</maxVel>
      <selfCollide value="True"/>
    </gazebo>
  </link>
  <joint name="r_ring_pip_joint" type="revolute">
    <parent link="r_ring_mcp_link"/>
    <child link="r_ring_pip_link"/>
    <origin rpy="0.0 0.0 0.0" xyz="0.0 0.0 0.0325"/>
    <axis xyz="0 1 0"/>
    <limit effort="1000.0" lower="0.3385938748868999" upper="3.5831609543443586" velocity="1.0"/>
    <dynamics damping="0.05" friction="0.2"/>
    <mimic joint="r_ring_mcp_joint" multiplier="0.9845" offset="-0.3017"/>
  </joint>
  <gazebo reference="r_ring_pip_joint">
    <!-- Needed for ODE to output external wrenches on joints -->
    <provideFeedback>true</provideFeedback>
    <preserveFixedJoint>true</preserveFixedJoint>
    <disableFixedJointLumping>true</disableFixedJointLumping>
  </gazebo>
  <link name="r_pinky_mcp_link">
    <visual name="r_pinky_mcp_link_vis">
      <origin rpy="0 0 0" xyz="0 0 0"/>
      <geometry>
        <mesh filename="package://human_description/meshes/robot_hands/m92c_hand/visual/r_pinky_mcp_link.stl" scale="1e-3 1e-3 1e-3"/>
      </geometry>
      <material name="metal">
        <color rgba="0.85 0.85 0.85 1"/>
      </material>
    </visual>
    <collision name="r_pinky_mcp_link_col">
      <origin rpy="0 0 0" xyz="0 0 0"/>
      <geometry>
        <mesh filename="package://human_description/meshes/robot_hands/m92c_hand/collision/r_pinky_mcp_link.stl" scale="1e-3 1e-3 1e-3"/>
      </geometry>
    </collision>
    <inertial>
      <origin rpy="0 0 0" xyz="-0.0024318988 3.328481e-07 0.010028137"/>
      <mass value="9.3522071e-09"/>
      <inertia ixx="1.1533308e-06" ixy="-1.327215e-11" ixz="2.5106055e-08" iyy="1.1732561e-06" iyz="2.2192538e-11" izz="5.6009882e-07"/>
    </inertial>
    <gazebo reference="r_pinky_mcp_link">
      <mu1 value="0.85"/>
      <mu2 value="0.85"/>
      <maxContacts>10</maxContacts>
      <minDepth>0.0001</minDepth>
      <maxVel>0.01</maxVel>
      <selfCollide value="True"/>
    </gazebo>
  </link>
  <joint name="r_pinky_mcp_joint" type="revolute">
    <parent link="r_hand_palm_link"/>
    <child link="r_pinky_mcp_link"/>
    <origin rpy="0.12211 0.0 0.0" xyz="0.00227 -0.03431 0.11361"/>
    <axis xyz="0 1 0"/>
    <limit effort="1000.0" lower="0.16406094968746698" upper="1.7662732030182617" velocity="1.0"/>
    <dynamics damping="0.05" friction="0.2"/>
  </joint>
  <gazebo reference="r_pinky_mcp_joint">
    <!-- Needed for ODE to output external wrenches on joints -->
    <provideFeedback>true</provideFeedback>
    <preserveFixedJoint>true</preserveFixedJoint>
    <disableFixedJointLumping>true</disableFixedJointLumping>
  </gazebo>
  <link name="r_pinky_pip_link">
    <visual name="r_pinky_pip_link_vis">
      <origin rpy="0 0 0" xyz="0 0 0"/>
      <geometry>
        <mesh filename="package://human_description/meshes/robot_hands/m92c_hand/visual/r_pinky_pip_link.stl" scale="1e-3 1e-3 1e-3"/>
      </geometry>
      <material name="metal">
        <color rgba="0.85 0.85 0.85 1"/>
      </material>
    </visual>
    <collision name="r_pinky_pip_link_col">
      <origin rpy="0 0 0" xyz="0 0 0"/>
      <geometry>
        <mesh filename="package://human_description/meshes/robot_hands/m92c_hand/collision/r_pinky_pip_link.stl" scale="1e-3 1e-3 1e-3"/>
      </geometry>
    </collision>
    <inertial>
      <origin rpy="0 0 0" xyz="-0.0021920592 2.81739e-06 0.023240314"/>
      <mass value="1.2033694e-10"/>
      <inertia ixx="2.8856205e-06" ixy="-5.3997072e-11" ixz="-2.4954332e-07" iyy="2.8726183e-06" iyz="-9.9600212e-11" izz="3.6244504e-07"/>
    </inertial>
    <gazebo reference="r_pinky_pip_link">
      <mu1 value="0.85"/>
      <mu2 value="0.85"/>
      <maxContacts>10</maxContacts>
      <minDepth>0.0001</minDepth>
      <maxVel>0.01</maxVel>
      <selfCollide value="True"/>
    </gazebo>
  </link>
  <joint name="r_pinky_pip_joint" type="revolute">
    <parent link="r_pinky_mcp_link"/>
    <child link="r_pinky_pip_link"/>
    <origin rpy="0.0 0.0 0.0" xyz="0.0 0.0 0.0325"/>
    <axis xyz="0 1 0"/>
    <limit effort="1000.0" lower="0.3385938748868999" upper="3.5831609543443586" velocity="1.0"/>
    <dynamics damping="0.05" friction="0.2"/>
    <mimic joint="r_pinky_mcp_joint" multiplier="0.9845" offset="-0.3017"/>
  </joint>
  <gazebo reference="r_pinky_pip_joint">
    <!-- Needed for ODE to output external wrenches on joints -->
    <provideFeedback>true</provideFeedback>
    <preserveFixedJoint>true</preserveFixedJoint>
    <disableFixedJointLumping>true</disableFixedJointLumping>
  </gazebo>
  <ros2_control name="r_hand_system" type="system">
    <hardware>
      <plugin>ign_ros2_control/IgnitionSystem</plugin>
    </hardware>
    <joint name="r_thumb_cmc_y_joint">
      <param name="initial_position">0.0</param>
      <command_interface name="position"/>
      <state_interface name="position">
        <param name="initial_value">0.0</param>
      </state_interface>
      <state_interface name="velocity"/>
      <state_interface name="effort"/>
    </joint>
    <transmission name="r_thumb_cmc_y_transmission">
      <plugin>transmission_interface/SimpleTransmission</plugin>
      <joint name="r_thumb_cmc_y_joint" role="joint1">
        <mechanical_reduction>1.0</mechanical_reduction>
        <offset>0</offset>
      </joint>
      <actuator name="r_thumb_cmc_y_actuator" role="actuator1">
        <mechanical_reduction>1.0</mechanical_reduction>
        <offset>0</offset>
      </actuator>
    </transmission>
    <joint name="r_thumb_cmc_p_joint">
      <param name="initial_position">0.0</param>
      <command_interface name="position"/>
      <state_interface name="position">
        <param name="initial_value">0.0</param>
      </state_interface>
      <state_interface name="velocity"/>
      <state_interface name="effort"/>
    </joint>
    <transmission name="r_thumb_cmc_p_transmission">
      <plugin>transmission_interface/SimpleTransmission</plugin>
      <joint name="r_thumb_cmc_p_joint" role="joint1">
        <mechanical_reduction>1.0</mechanical_reduction>
        <offset>0</offset>
      </joint>
      <actuator name="r_thumb_cmc_p_actuator" role="actuator1">
        <mechanical_reduction>1.0</mechanical_reduction>
        <offset>0</offset>
      </actuator>
    </transmission>
    <joint name="r_thumb_mcp_joint">
      <param name="initial_position">0.0</param>
      <param name="mimic">r_thumb_cmc_p_joint</param>
      <param name="multiplier">1</param>
      <command_interface name="position"/>
      <state_interface name="position">
        <param name="initial_value">0.0</param>
      </state_interface>
      <state_interface name="velocity"/>
      <state_interface name="effort"/>
    </joint>
    <joint name="r_thumb_ip_joint">
      <param name="initial_position">0.0</param>
      <param name="mimic">r_thumb_cmc_p_joint</param>
      <param name="multiplier">1</param>
      <command_interface name="position"/>
      <state_interface name="position">
        <param name="initial_value">0.0</param>
      </state_interface>
      <state_interface name="velocity"/>
      <state_interface name="effort"/>
    </joint>
    <joint name="r_index_mcp_joint">
      <param name="initial_position">0.0</param>
      <command_interface name="position"/>
      <state_interface name="position">
        <param name="initial_value">0.0</param>
      </state_interface>
      <state_interface name="velocity"/>
      <state_interface name="effort"/>
    </joint>
    <transmission name="r_index_mcp_transmission">
      <plugin>transmission_interface/SimpleTransmission</plugin>
      <joint name="r_index_mcp_joint" role="joint1">
        <mechanical_reduction>1.0</mechanical_reduction>
        <offset>0</offset>
      </joint>
      <actuator name="r_index_mcp_actuator" role="actuator1">
        <mechanical_reduction>1.0</mechanical_reduction>
        <offset>0</offset>
      </actuator>
    </transmission>
    <joint name="r_index_pip_joint">
      <param name="initial_position">0.0</param>
      <param name="mimic">r_index_mcp_joint</param>
      <param name="multiplier">1</param>
      <command_interface name="position"/>
      <state_interface name="position">
        <param name="initial_value">0.0</param>
      </state_interface>
      <state_interface name="velocity"/>
      <state_interface name="effort"/>
    </joint>
    <joint name="r_middle_mcp_joint">
      <param name="initial_position">0.0</param>
      <command_interface name="position"/>
      <state_interface name="position">
        <param name="initial_value">0.0</param>
      </state_interface>
      <state_interface name="velocity"/>
      <state_interface name="effort"/>
    </joint>
    <transmission name="r_middle_mcp_transmission">
      <plugin>transmission_interface/SimpleTransmission</plugin>
      <joint name="r_middle_mcp_joint" role="joint1">
        <mechanical_reduction>1.0</mechanical_reduction>
        <offset>0</offset>
      </joint>
      <actuator name="r_middle_mcp_actuator" role="actuator1">
        <mechanical_reduction>1.0</mechanical_reduction>
        <offset>0</offset>
      </actuator>
    </transmission>
    <joint name="r_middle_pip_joint">
      <param name="initial_position">0.0</param>
      <param name="mimic">r_middle_mcp_joint</param>
      <param name="multiplier">1</param>
      <command_interface name="position"/>
      <state_interface name="position">
        <param name="initial_value">0.0</param>
      </state_interface>
      <state_interface name="velocity"/>
      <state_interface name="effort"/>
    </joint>
    <joint name="r_pinky_mcp_joint">
      <param name="initial_position">0.0</param>
      <command_interface name="position"/>
      <state_interface name="position">
        <param name="initial_value">0.0</param>
      </state_interface>
      <state_interface name="velocity"/>
      <state_interface name="effort"/>
    </joint>
    <transmission name="r_pinky_mcp_transmission">
      <plugin>transmission_interface/SimpleTransmission</plugin>
      <joint name="r_pinky_mcp_joint" role="joint1">
        <mechanical_reduction>1.0</mechanical_reduction>
        <offset>0</offset>
      </joint>
      <actuator name="r_pinky_mcp_actuator" role="actuator1">
        <mechanical_reduction>1.0</mechanical_reduction>
        <offset>0</offset>
      </actuator>
    </transmission>
    <joint name="r_pinky_pip_joint">
      <param name="initial_position">0.0</param>
      <param name="mimic">r_pinky_mcp_joint</param>
      <param name="multiplier">1</param>
      <command_interface name="position"/>
      <state_interface name="position">
        <param name="initial_value">0.0</param>
      </state_interface>
      <state_interface name="velocity"/>
      <state_interface name="effort"/>
    </joint>
    <joint name="r_ring_mcp_joint">
      <param name="initial_position">0.0</param>
      <command_interface name="position"/>
      <state_interface name="position">
        <param name="initial_value">0.0</param>
      </state_interface>
      <state_interface name="velocity"/>
      <state_interface name="effort"/>
    </joint>
    <transmission name="r_ring_mcp_transmission">
      <plugin>transmission_interface/SimpleTransmission</plugin>
      <joint name="r_ring_mcp_joint" role="joint1">
        <mechanical_reduction>1.0</mechanical_reduction>
        <offset>0</offset>
      </joint>
      <actuator name="r_ring_mcp_actuator" role="actuator1">
        <mechanical_reduction>1.0</mechanical_reduction>
        <offset>0</offset>
      </actuator>
    </transmission>
    <joint name="r_ring_pip_joint">
      <param name="initial_position">0.0</param>
      <param name="mimic">r_ring_mcp_joint</param>
      <param name="multiplier">1</param>
      <command_interface name="position"/>
      <state_interface name="position">
        <param name="initial_value">0.0</param>
      </state_interface>
      <state_interface name="velocity"/>
      <state_interface name="effort"/>
    </joint>
  </ros2_control>
  <!-- IMU -->
  <!-- <xacro:dummy-link name="pelvis_imu_frame" />
        <xacro:robot-joint joint_name="pelvis_imu"
            joint_type="fixed"
            parent="${connected_to}"
            child="pelvis_imu_frame"
            joint_limits="${joint_limits}"
            kinematics="${kinematics}"
            inertials="${inertials}"
            dynamics="${dynamics}" /> -->
  <link name="head_camera_color_optical_frame"/>
  <joint name="head_camera_color_optical_fixed_joint" type="fixed">
    <parent link="waist2_p_link"/>
    <child link="head_camera_color_optical_frame"/>
    <origin rpy="-2.3612687 -0.0018548 -1.5289507" xyz="0.051305717762167 0.03078826748102767 0.5296785230036899"/>
    <axis xyz="0 0 1"/>
  </joint>
  <link name="right_wrist_camera_color_optical_frame"/>
  <joint name="right_wrist_camera_color_optical_fixed_joint" type="fixed">
    <parent link="r_arm7_wrist_p_link"/>
    <child link="right_wrist_camera_color_optical_frame"/>
    <origin rpy="-3.0969094 -0.0446179 -2.6514574" xyz="-0.018756415998556566 0.06589653803939702 -0.059254465754087916"/>
    <axis xyz="0 0 1"/>
  </joint>
  <!-- <xacro:dummy-link name="middle_camera_link" />
        <xacro:robot-joint joint_name="middle_camera_link_fixed_joint"
            joint_type="fixed"
            parent="base_link"
            child="middle_camera_link"
            joint_limits="${joint_limits}"
            kinematics="${kinematics}"
            inertials="${inertials}"
            dynamics="${dynamics}" /> -->
  <ros2_control name="sensors_system" type="system">
    <hardware>
      <plugin>ign_ros2_control/IgnitionSystem</plugin>
    </hardware>
    <joint name="pelvis_imu"/>
    <sensor name="pelvis_imu">
      <state_interface name="orientation.x"/>
      <state_interface name="orientation.y"/>
      <state_interface name="orientation.z"/>
      <state_interface name="orientation.w"/>
      <state_interface name="angular_velocity.x"/>
      <state_interface name="angular_velocity.y"/>
      <state_interface name="angular_velocity.z"/>
      <state_interface name="linear_acceleration.x"/>
      <state_interface name="linear_acceleration.y"/>
      <state_interface name="linear_acceleration.z"/>
      <param name="frame_id">pelvis_imu_frame</param>
      <param name="gyro_sensor">pelvis_imu_gyro</param>
      <param name="accelerometer_sensor">pelvis_imu_accelerometer</param>
      <param name="quaternion_sensor">pelvis_imu_quaternion</param>
      <param name="sensor_type">imu</param>
    </sensor>
  </ros2_control>
  <gazebo>
    <plugin filename="ign_ros2_control-system" name="ign_ros2_control::IgnitionROS2ControlPlugin">
      <parameters>[local-path]/ws_humble/install/human_description/share/human_description/config/M92C/ros2_controllers.yaml</parameters>
    </plugin>
    <self_collide>false</self_collide>
  </gazebo>
</robot>
